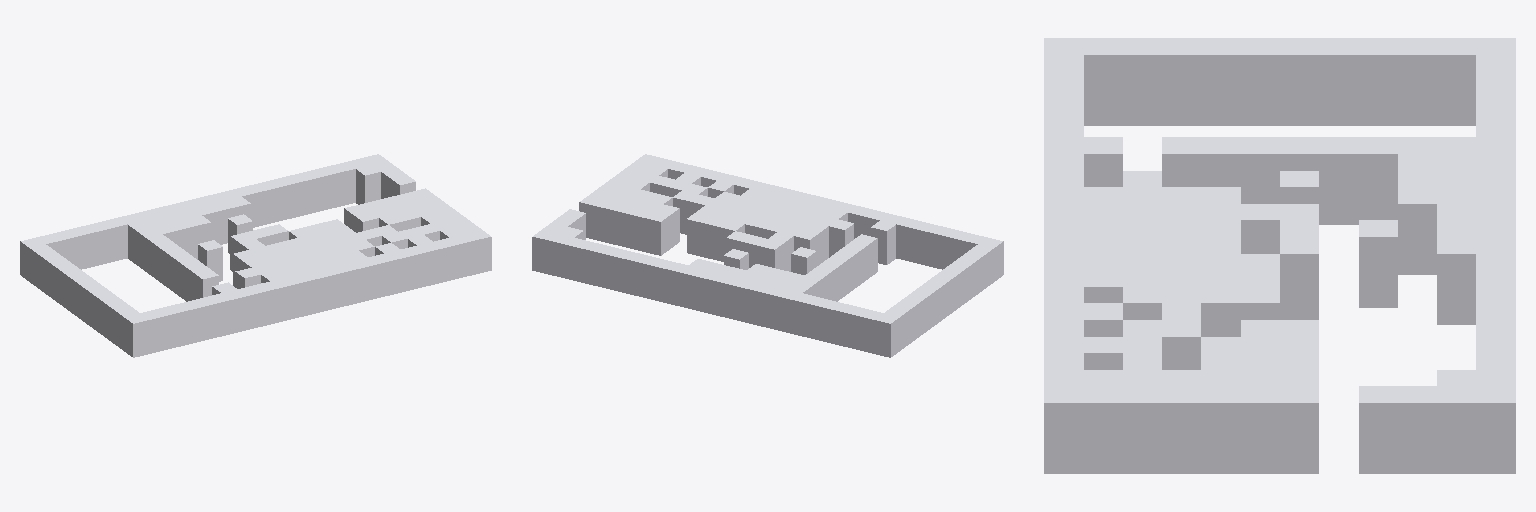
--- What the picture shows (computed from the rendered views, not written in the file) ---
3 views of the same robot in one strip: view 1: azimuth 30°, elevation 25°; view 2: azimuth 150°, elevation 25°; view 3: azimuth 270°, elevation 25° (orthographic).
Robot: maze — 141 links, 140 joints (140 fixed); root link maze_base; default pose: all joints at 0.
Visible links, largest first — view 1: block_11_0, block_1_20, block_0_16, block_11_18, block_11_21, block_11_7, block_0_5, block_0_19, block_11_4, block_11_11, block_11_14, block_11_10 (+25 smaller); view 2: block_0_0, block_5_17, block_10_6, block_0_18, block_0_21, block_0_7, block_0_4, block_0_11, block_0_14, block_5_18, block_11_5, block_0_10 (+25 smaller); view 3: block_0_21, block_4_0, block_4_6, block_7_0, block_7_21, block_11_21, block_1_0, block_1_12, block_1_21, block_2_0, block_2_9, block_2_21 (+28 smaller).
Boxes of the visible links, x1,y1,x2,y2 form: block_11_0: (124,313,149,357); block_1_20: (356,165,380,204); block_0_16: (282,174,306,218); block_11_18: (417,242,442,285); block_11_21: (466,230,491,274); block_11_7: (238,285,263,329); block_0_5: (102,218,127,261); block_0_19: (331,162,355,206); block_11_4: (189,297,214,341); block_11_11: (303,270,328,313); block_11_14: (352,258,377,301); block_11_10: (287,273,311,317); block_0_0: (874,313,899,357); block_5_17: (645,211,669,255); block_10_6: (871,221,895,264); block_0_18: (581,242,606,285); block_0_21: (532,230,557,274); block_0_7: (760,285,785,329); block_0_4: (809,297,834,341); block_0_11: (695,270,720,313); block_0_14: (646,258,671,301); block_5_18: (628,207,653,251); block_11_5: (896,218,921,261); block_0_10: (712,273,736,317); block_0_21: (1476,386,1515,473); block_4_0: (1319,38,1358,125); block_4_6: (1319,137,1358,224); block_7_0: (1201,38,1240,125); block_7_21: (1201,386,1240,473); block_11_21: (1044,386,1083,473); block_1_0: (1437,38,1475,125); block_1_12: (1437,237,1475,324); block_1_21: (1437,386,1475,473); block_2_0: (1398,38,1436,125); block_2_9: (1398,187,1436,274); block_2_21: (1398,386,1436,473).
Bounding box of the posed robot: 22 × 12 × 2 m (x, y, z).
Geometry: primitives only (box / cylinder / sphere), no mesh files.

robot.urdf — maze:
<?xml version="1.0" ?>
<robot name="maze">
  <link name="maze_base"/>

  <link name="block_0_0">
    <visual>
      <origin xyz="0 0 0"/>
      <geometry>
        <box size="1.0 1.0 2.0"/>
      </geometry>
      <material name="wall">
        <color rgba="0.95 0.95 0.98 1.0"/>
      </material>
    </visual>
    <collision>
      <origin xyz="0 0 0"/>
      <geometry>
        <box size="1.0 1.0 2.0"/>
      </geometry>
    </collision>
    <inertial>
      <mass value="0"/> <!-- static -->
      <inertia ixx="0" iyy="0" izz="0" ixy="0" ixz="0" iyz="0"/>
    </inertial>
  </link>


  <joint name="joint_block_0_0" type="fixed">
    <parent link="maze_base"/>
    <child link="block_0_0"/>
    <origin xyz="-3.5 5.5 1.0" rpy="0 0 0"/>
  </joint>


  <link name="block_0_1">
    <visual>
      <origin xyz="0 0 0"/>
      <geometry>
        <box size="1.0 1.0 2.0"/>
      </geometry>
      <material name="wall">
        <color rgba="0.95 0.95 0.98 1.0"/>
      </material>
    </visual>
    <collision>
      <origin xyz="0 0 0"/>
      <geometry>
        <box size="1.0 1.0 2.0"/>
      </geometry>
    </collision>
    <inertial>
      <mass value="0"/> <!-- static -->
      <inertia ixx="0" iyy="0" izz="0" ixy="0" ixz="0" iyz="0"/>
    </inertial>
  </link>


  <joint name="joint_block_0_1" type="fixed">
    <parent link="maze_base"/>
    <child link="block_0_1"/>
    <origin xyz="-2.5 5.5 1.0" rpy="0 0 0"/>
  </joint>


  <link name="block_0_2">
    <visual>
      <origin xyz="0 0 0"/>
      <geometry>
        <box size="1.0 1.0 2.0"/>
      </geometry>
      <material name="wall">
        <color rgba="0.95 0.95 0.98 1.0"/>
      </material>
    </visual>
    <collision>
      <origin xyz="0 0 0"/>
      <geometry>
        <box size="1.0 1.0 2.0"/>
      </geometry>
    </collision>
    <inertial>
      <mass value="0"/> <!-- static -->
      <inertia ixx="0" iyy="0" izz="0" ixy="0" ixz="0" iyz="0"/>
    </inertial>
  </link>


  <joint name="joint_block_0_2" type="fixed">
    <parent link="maze_base"/>
    <child link="block_0_2"/>
    <origin xyz="-1.5 5.5 1.0" rpy="0 0 0"/>
  </joint>


  <link name="block_0_3">
    <visual>
      <origin xyz="0 0 0"/>
      <geometry>
        <box size="1.0 1.0 2.0"/>
      </geometry>
      <material name="wall">
        <color rgba="0.95 0.95 0.98 1.0"/>
      </material>
    </visual>
    <collision>
      <origin xyz="0 0 0"/>
      <geometry>
        <box size="1.0 1.0 2.0"/>
      </geometry>
    </collision>
    <inertial>
      <mass value="0"/> <!-- static -->
      <inertia ixx="0" iyy="0" izz="0" ixy="0" ixz="0" iyz="0"/>
    </inertial>
  </link>


  <joint name="joint_block_0_3" type="fixed">
    <parent link="maze_base"/>
    <child link="block_0_3"/>
    <origin xyz="-0.5 5.5 1.0" rpy="0 0 0"/>
  </joint>


  <link name="block_0_4">
    <visual>
      <origin xyz="0 0 0"/>
      <geometry>
        <box size="1.0 1.0 2.0"/>
      </geometry>
      <material name="wall">
        <color rgba="0.95 0.95 0.98 1.0"/>
      </material>
    </visual>
    <collision>
      <origin xyz="0 0 0"/>
      <geometry>
        <box size="1.0 1.0 2.0"/>
      </geometry>
    </collision>
    <inertial>
      <mass value="0"/> <!-- static -->
      <inertia ixx="0" iyy="0" izz="0" ixy="0" ixz="0" iyz="0"/>
    </inertial>
  </link>


  <joint name="joint_block_0_4" type="fixed">
    <parent link="maze_base"/>
    <child link="block_0_4"/>
    <origin xyz="0.5 5.5 1.0" rpy="0 0 0"/>
  </joint>


  <link name="block_0_5">
    <visual>
      <origin xyz="0 0 0"/>
      <geometry>
        <box size="1.0 1.0 2.0"/>
      </geometry>
      <material name="wall">
        <color rgba="0.95 0.95 0.98 1.0"/>
      </material>
    </visual>
    <collision>
      <origin xyz="0 0 0"/>
      <geometry>
        <box size="1.0 1.0 2.0"/>
      </geometry>
    </collision>
    <inertial>
      <mass value="0"/> <!-- static -->
      <inertia ixx="0" iyy="0" izz="0" ixy="0" ixz="0" iyz="0"/>
    </inertial>
  </link>


  <joint name="joint_block_0_5" type="fixed">
    <parent link="maze_base"/>
    <child link="block_0_5"/>
    <origin xyz="1.5 5.5 1.0" rpy="0 0 0"/>
  </joint>


  <link name="block_0_6">
    <visual>
      <origin xyz="0 0 0"/>
      <geometry>
        <box size="1.0 1.0 2.0"/>
      </geometry>
      <material name="wall">
        <color rgba="0.95 0.95 0.98 1.0"/>
      </material>
    </visual>
    <collision>
      <origin xyz="0 0 0"/>
      <geometry>
        <box size="1.0 1.0 2.0"/>
      </geometry>
    </collision>
    <inertial>
      <mass value="0"/> <!-- static -->
      <inertia ixx="0" iyy="0" izz="0" ixy="0" ixz="0" iyz="0"/>
    </inertial>
  </link>


  <joint name="joint_block_0_6" type="fixed">
    <parent link="maze_base"/>
    <child link="block_0_6"/>
    <origin xyz="2.5 5.5 1.0" rpy="0 0 0"/>
  </joint>


  <link name="block_0_7">
    <visual>
      <origin xyz="0 0 0"/>
      <geometry>
        <box size="1.0 1.0 2.0"/>
      </geometry>
      <material name="wall">
        <color rgba="0.95 0.95 0.98 1.0"/>
      </material>
    </visual>
    <collision>
      <origin xyz="0 0 0"/>
      <geometry>
        <box size="1.0 1.0 2.0"/>
      </geometry>
    </collision>
    <inertial>
      <mass value="0"/> <!-- static -->
      <inertia ixx="0" iyy="0" izz="0" ixy="0" ixz="0" iyz="0"/>
    </inertial>
  </link>


  <joint name="joint_block_0_7" type="fixed">
    <parent link="maze_base"/>
    <child link="block_0_7"/>
    <origin xyz="3.5 5.5 1.0" rpy="0 0 0"/>
  </joint>


  <link name="block_0_8">
    <visual>
      <origin xyz="0 0 0"/>
      <geometry>
        <box size="1.0 1.0 2.0"/>
      </geometry>
      <material name="wall">
        <color rgba="0.95 0.95 0.98 1.0"/>
      </material>
    </visual>
    <collision>
      <origin xyz="0 0 0"/>
      <geometry>
        <box size="1.0 1.0 2.0"/>
      </geometry>
    </collision>
    <inertial>
      <mass value="0"/> <!-- static -->
      <inertia ixx="0" iyy="0" izz="0" ixy="0" ixz="0" iyz="0"/>
    </inertial>
  </link>


  <joint name="joint_block_0_8" type="fixed">
    <parent link="maze_base"/>
    <child link="block_0_8"/>
    <origin xyz="4.5 5.5 1.0" rpy="0 0 0"/>
  </joint>


  <link name="block_0_9">
    <visual>
      <origin xyz="0 0 0"/>
      <geometry>
        <box size="1.0 1.0 2.0"/>
      </geometry>
      <material name="wall">
        <color rgba="0.95 0.95 0.98 1.0"/>
      </material>
    </visual>
    <collision>
      <origin xyz="0 0 0"/>
      <geometry>
        <box size="1.0 1.0 2.0"/>
      </geometry>
    </collision>
    <inertial>
      <mass value="0"/> <!-- static -->
      <inertia ixx="0" iyy="0" izz="0" ixy="0" ixz="0" iyz="0"/>
    </inertial>
  </link>


  <joint name="joint_block_0_9" type="fixed">
    <parent link="maze_base"/>
    <child link="block_0_9"/>
    <origin xyz="5.5 5.5 1.0" rpy="0 0 0"/>
  </joint>


  <link name="block_0_10">
    <visual>
      <origin xyz="0 0 0"/>
      <geometry>
        <box size="1.0 1.0 2.0"/>
      </geometry>
      <material name="wall">
        <color rgba="0.95 0.95 0.98 1.0"/>
      </material>
    </visual>
    <collision>
      <origin xyz="0 0 0"/>
      <geometry>
        <box size="1.0 1.0 2.0"/>
      </geometry>
    </collision>
    <inertial>
      <mass value="0"/> <!-- static -->
      <inertia ixx="0" iyy="0" izz="0" ixy="0" ixz="0" iyz="0"/>
    </inertial>
  </link>


  <joint name="joint_block_0_10" type="fixed">
    <parent link="maze_base"/>
    <child link="block_0_10"/>
    <origin xyz="6.5 5.5 1.0" rpy="0 0 0"/>
  </joint>


  <link name="block_0_11">
    <visual>
      <origin xyz="0 0 0"/>
      <geometry>
        <box size="1.0 1.0 2.0"/>
      </geometry>
      <material name="wall">
        <color rgba="0.95 0.95 0.98 1.0"/>
      </material>
    </visual>
    <collision>
      <origin xyz="0 0 0"/>
      <geometry>
        <box size="1.0 1.0 2.0"/>
      </geometry>
    </collision>
    <inertial>
      <mass value="0"/> <!-- static -->
      <inertia ixx="0" iyy="0" izz="0" ixy="0" ixz="0" iyz="0"/>
    </inertial>
  </link>


  <joint name="joint_block_0_11" type="fixed">
    <parent link="maze_base"/>
    <child link="block_0_11"/>
    <origin xyz="7.5 5.5 1.0" rpy="0 0 0"/>
  </joint>


  <link name="block_0_12">
    <visual>
      <origin xyz="0 0 0"/>
      <geometry>
        <box size="1.0 1.0 2.0"/>
      </geometry>
      <material name="wall">
        <color rgba="0.95 0.95 0.98 1.0"/>
      </material>
    </visual>
    <collision>
      <origin xyz="0 0 0"/>
      <geometry>
        <box size="1.0 1.0 2.0"/>
      </geometry>
    </collision>
    <inertial>
      <mass value="0"/> <!-- static -->
      <inertia ixx="0" iyy="0" izz="0" ixy="0" ixz="0" iyz="0"/>
    </inertial>
  </link>


  <joint name="joint_block_0_12" type="fixed">
    <parent link="maze_base"/>
    <child link="block_0_12"/>
    <origin xyz="8.5 5.5 1.0" rpy="0 0 0"/>
  </joint>


  <link name="block_0_13">
    <visual>
      <origin xyz="0 0 0"/>
      <geometry>
        <box size="1.0 1.0 2.0"/>
      </geometry>
      <material name="wall">
        <color rgba="0.95 0.95 0.98 1.0"/>
      </material>
    </visual>
    <collision>
      <origin xyz="0 0 0"/>
      <geometry>
        <box size="1.0 1.0 2.0"/>
      </geometry>
    </collision>
    <inertial>
      <mass value="0"/> <!-- static -->
      <inertia ixx="0" iyy="0" izz="0" ixy="0" ixz="0" iyz="0"/>
    </inertial>
  </link>


  <joint name="joint_block_0_13" type="fixed">
    <parent link="maze_base"/>
    <child link="block_0_13"/>
    <origin xyz="9.5 5.5 1.0" rpy="0 0 0"/>
  </joint>


  <link name="block_0_14">
    <visual>
      <origin xyz="0 0 0"/>
      <geometry>
        <box size="1.0 1.0 2.0"/>
      </geometry>
      <material name="wall">
        <color rgba="0.95 0.95 0.98 1.0"/>
      </material>
    </visual>
    <collision>
      <origin xyz="0 0 0"/>
      <geometry>
        <box size="1.0 1.0 2.0"/>
      </geometry>
    </collision>
    <inertial>
      <mass value="0"/> <!-- static -->
      <inertia ixx="0" iyy="0" izz="0" ixy="0" ixz="0" iyz="0"/>
    </inertial>
  </link>


  <joint name="joint_block_0_14" type="fixed">
    <parent link="maze_base"/>
    <child link="block_0_14"/>
    <origin xyz="10.5 5.5 1.0" rpy="0 0 0"/>
  </joint>


  <link name="block_0_15">
    <visual>
      <origin xyz="0 0 0"/>
      <geometry>
        <box size="1.0 1.0 2.0"/>
      </geometry>
      <material name="wall">
        <color rgba="0.95 0.95 0.98 1.0"/>
      </material>
    </visual>
    <collision>
      <origin xyz="0 0 0"/>
      <geometry>
        <box size="1.0 1.0 2.0"/>
      </geometry>
    </collision>
    <inertial>
      <mass value="0"/> <!-- static -->
      <inertia ixx="0" iyy="0" izz="0" ixy="0" ixz="0" iyz="0"/>
    </inertial>
  </link>


  <joint name="joint_block_0_15" type="fixed">
    <parent link="maze_base"/>
    <child link="block_0_15"/>
    <origin xyz="11.5 5.5 1.0" rpy="0 0 0"/>
  </joint>


  <link name="block_0_16">
    <visual>
      <origin xyz="0 0 0"/>
      <geometry>
        <box size="1.0 1.0 2.0"/>
      </geometry>
      <material name="wall">
        <color rgba="0.95 0.95 0.98 1.0"/>
      </material>
    </visual>
    <collision>
      <origin xyz="0 0 0"/>
      <geometry>
        <box size="1.0 1.0 2.0"/>
      </geometry>
    </collision>
    <inertial>
      <mass value="0"/> <!-- static -->
      <inertia ixx="0" iyy="0" izz="0" ixy="0" ixz="0" iyz="0"/>
    </inertial>
  </link>


  <joint name="joint_block_0_16" type="fixed">
    <parent link="maze_base"/>
    <child link="block_0_16"/>
    <origin xyz="12.5 5.5 1.0" rpy="0 0 0"/>
  </joint>


  <link name="block_0_17">
    <visual>
      <origin xyz="0 0 0"/>
      <geometry>
        <box size="1.0 1.0 2.0"/>
      </geometry>
      <material name="wall">
        <color rgba="0.95 0.95 0.98 1.0"/>
      </material>
    </visual>
    <collision>
      <origin xyz="0 0 0"/>
      <geometry>
        <box size="1.0 1.0 2.0"/>
      </geometry>
    </collision>
    <inertial>
      <mass value="0"/> <!-- static -->
      <inertia ixx="0" iyy="0" izz="0" ixy="0" ixz="0" iyz="0"/>
    </inertial>
  </link>


  <joint name="joint_block_0_17" type="fixed">
    <parent link="maze_base"/>
    <child link="block_0_17"/>
    <origin xyz="13.5 5.5 1.0" rpy="0 0 0"/>
  </joint>


  <link name="block_0_18">
    <visual>
      <origin xyz="0 0 0"/>
      <geometry>
        <box size="1.0 1.0 2.0"/>
      </geometry>
      <material name="wall">
        <color rgba="0.95 0.95 0.98 1.0"/>
      </material>
    </visual>
    <collision>
      <origin xyz="0 0 0"/>
      <geometry>
        <box size="1.0 1.0 2.0"/>
      </geometry>
    </collision>
    <inertial>
      <mass value="0"/> <!-- static -->
      <inertia ixx="0" iyy="0" izz="0" ixy="0" ixz="0" iyz="0"/>
    </inertial>
  </link>


  <joint name="joint_block_0_18" type="fixed">
    <parent link="maze_base"/>
    <child link="block_0_18"/>
    <origin xyz="14.5 5.5 1.0" rpy="0 0 0"/>
  </joint>


  <link name="block_0_19">
    <visual>
      <origin xyz="0 0 0"/>
      <geometry>
        <box size="1.0 1.0 2.0"/>
      </geometry>
      <material name="wall">
        <color rgba="0.95 0.95 0.98 1.0"/>
      </material>
    </visual>
    <collision>
      <origin xyz="0 0 0"/>
      <geometry>
        <box size="1.0 1.0 2.0"/>
      </geometry>
    </collision>
    <inertial>
      <mass value="0"/> <!-- static -->
      <inertia ixx="0" iyy="0" izz="0" ixy="0" ixz="0" iyz="0"/>
    </inertial>
  </link>


  <joint name="joint_block_0_19" type="fixed">
    <parent link="maze_base"/>
    <child link="block_0_19"/>
    <origin xyz="15.5 5.5 1.0" rpy="0 0 0"/>
  </joint>


  <link name="block_0_20">
    <visual>
      <origin xyz="0 0 0"/>
      <geometry>
        <box size="1.0 1.0 2.0"/>
      </geometry>
      <material name="wall">
        <color rgba="0.95 0.95 0.98 1.0"/>
      </material>
    </visual>
    <collision>
      <origin xyz="0 0 0"/>
      <geometry>
        <box size="1.0 1.0 2.0"/>
      </geometry>
    </collision>
    <inertial>
      <mass value="0"/> <!-- static -->
      <inertia ixx="0" iyy="0" izz="0" ixy="0" ixz="0" iyz="0"/>
    </inertial>
  </link>


  <joint name="joint_block_0_20" type="fixed">
    <parent link="maze_base"/>
    <child link="block_0_20"/>
    <origin xyz="16.5 5.5 1.0" rpy="0 0 0"/>
  </joint>


  <link name="block_0_21">
    <visual>
      <origin xyz="0 0 0"/>
      <geometry>
        <box size="1.0 1.0 2.0"/>
      </geometry>
      <material name="wall">
        <color rgba="0.95 0.95 0.98 1.0"/>
      </material>
    </visual>
    <collision>
      <origin xyz="0 0 0"/>
      <geometry>
        <box size="1.0 1.0 2.0"/>
      </geometry>
    </collision>
    <inertial>
      <mass value="0"/> <!-- static -->
      <inertia ixx="0" iyy="0" izz="0" ixy="0" ixz="0" iyz="0"/>
    </inertial>
  </link>


  <joint name="joint_block_0_21" type="fixed">
    <parent link="maze_base"/>
    <child link="block_0_21"/>
    <origin xyz="17.5 5.5 1.0" rpy="0 0 0"/>
  </joint>


  <link name="block_1_0">
    <visual>
      <origin xyz="0 0 0"/>
      <geometry>
        <box size="1.0 1.0 2.0"/>
      </geometry>
      <material name="wall">
        <color rgba="0.95 0.95 0.98 1.0"/>
      </material>
    </visual>
    <collision>
      <origin xyz="0 0 0"/>
      <geometry>
        <box size="1.0 1.0 2.0"/>
      </geometry>
    </collision>
    <inertial>
      <mass value="0"/> <!-- static -->
      <inertia ixx="0" iyy="0" izz="0" ixy="0" ixz="0" iyz="0"/>
    </inertial>
  </link>


  <joint name="joint_block_1_0" type="fixed">
    <parent link="maze_base"/>
    <child link="block_1_0"/>
    <origin xyz="-3.5 4.5 1.0" rpy="0 0 0"/>
  </joint>


  <link name="block_1_6">
    <visual>
      <origin xyz="0 0 0"/>
      <geometry>
        <box size="1.0 1.0 2.0"/>
      </geometry>
      <material name="wall">
        <color rgba="0.95 0.95 0.98 1.0"/>
      </material>
    </visual>
    <collision>
      <origin xyz="0 0 0"/>
      <geometry>
        <box size="1.0 1.0 2.0"/>
      </geometry>
    </collision>
    <inertial>
      <mass value="0"/> <!-- static -->
      <inertia ixx="0" iyy="0" izz="0" ixy="0" ixz="0" iyz="0"/>
    </inertial>
  </link>


  <joint name="joint_block_1_6" type="fixed">
    <parent link="maze_base"/>
    <child link="block_1_6"/>
    <origin xyz="2.5 4.5 1.0" rpy="0 0 0"/>
  </joint>


  <link name="block_1_7">
    <visual>
      <origin xyz="0 0 0"/>
      <geometry>
        <box size="1.0 1.0 2.0"/>
      </geometry>
      <material name="wall">
        <color rgba="0.95 0.95 0.98 1.0"/>
      </material>
    </visual>
    <collision>
      <origin xyz="0 0 0"/>
      <geometry>
        <box size="1.0 1.0 2.0"/>
      </geometry>
    </collision>
    <inertial>
      <mass value="0"/> <!-- static -->
      <inertia ixx="0" iyy="0" izz="0" ixy="0" ixz="0" iyz="0"/>
    </inertial>
  </link>


  <joint name="joint_block_1_7" type="fixed">
    <parent link="maze_base"/>
    <child link="block_1_7"/>
    <origin xyz="3.5 4.5 1.0" rpy="0 0 0"/>
  </joint>


  <link name="block_1_8">
    <visual>
      <origin xyz="0 0 0"/>
      <geometry>
        <box size="1.0 1.0 2.0"/>
      </geometry>
      <material name="wall">
        <color rgba="0.95 0.95 0.98 1.0"/>
      </material>
    </visual>
    <collision>
      <origin xyz="0 0 0"/>
      <geometry>
        <box size="1.0 1.0 2.0"/>
      </geometry>
    </collision>
    <inertial>
      <mass value="0"/> <!-- static -->
      <inertia ixx="0" iyy="0" izz="0" ixy="0" ixz="0" iyz="0"/>
    </inertial>
  </link>


  <joint name="joint_block_1_8" type="fixed">
    <parent link="maze_base"/>
    <child link="block_1_8"/>
    <origin xyz="4.5 4.5 1.0" rpy="0 0 0"/>
  </joint>


  <link name="block_1_9">
    <visual>
      <origin xyz="0 0 0"/>
      <geometry>
        <box size="1.0 1.0 2.0"/>
      </geometry>
      <material name="wall">
        <color rgba="0.95 0.95 0.98 1.0"/>
      </material>
    </visual>
    <collision>
      <origin xyz="0 0 0"/>
      <geometry>
        <box size="1.0 1.0 2.0"/>
      </geometry>
    </collision>
    <inertial>
      <mass value="0"/> <!-- static -->
      <inertia ixx="0" iyy="0" izz="0" ixy="0" ixz="0" iyz="0"/>
    </inertial>
  </link>


  <joint name="joint_block_1_9" type="fixed">
    <parent link="maze_base"/>
    <child link="block_1_9"/>
    <origin xyz="5.5 4.5 1.0" rpy="0 0 0"/>
  </joint>


  <link name="block_1_10">
    <visual>
      <origin xyz="0 0 0"/>
      <geometry>
        <box size="1.0 1.0 2.0"/>
      </geometry>
      <material name="wall">
        <color rgba="0.95 0.95 0.98 1.0"/>
      </material>
    </visual>
    <collision>
      <origin xyz="0 0 0"/>
      <geometry>
        <box size="1.0 1.0 2.0"/>
      </geometry>
    </collision>
    <inertial>
      <mass value="0"/> <!-- static -->
      <inertia ixx="0" iyy="0" izz="0" ixy="0" ixz="0" iyz="0"/>
    </inertial>
  </link>


  <joint name="joint_block_1_10" type="fixed">
    <parent link="maze_base"/>
    <child link="block_1_10"/>
    <origin xyz="6.5 4.5 1.0" rpy="0 0 0"/>
  </joint>


  <link name="block_1_11">
    <visual>
      <origin xyz="0 0 0"/>
      <geometry>
        <box size="1.0 1.0 2.0"/>
      </geometry>
      <material name="wall">
        <color rgba="0.95 0.95 0.98 1.0"/>
      </material>
    </visual>
    <collision>
      <origin xyz="0 0 0"/>
      <geometry>
        <box size="1.0 1.0 2.0"/>
      </geometry>
    </collision>
    <inertial>
      <mass value="0"/> <!-- static -->
      <inertia ixx="0" iyy="0" izz="0" ixy="0" ixz="0" iyz="0"/>
    </inertial>
  </link>


  <joint name="joint_block_1_11" type="fixed">
    <parent link="maze_base"/>
    <child link="block_1_11"/>
    <origin xyz="7.5 4.5 1.0" rpy="0 0 0"/>
  </joint>


  <link name="block_1_12">
    <visual>
      <origin xyz="0 0 0"/>
      <geometry>
        <box size="1.0 1.0 2.0"/>
      </geometry>
      <material name="wall">
        <color rgba="0.95 0.95 0.98 1.0"/>
      </material>
    </visual>
    <collision>
      <origin xyz="0 0 0"/>
      <geometry>
        <box size="1.0 1.0 2.0"/>
      </geometry>
    </collision>
    <inertial>
      <mass value="0"/> <!-- static -->
      <inertia ixx="0" iyy="0" izz="0" ixy="0" ixz="0" iyz="0"/>
    </inertial>
  </link>


  <joint name="joint_block_1_12" type="fixed">
    <parent link="maze_base"/>
    <child link="block_1_12"/>
    <origin xyz="8.5 4.5 1.0" rpy="0 0 0"/>
  </joint>


  <link name="block_1_20">
    <visual>
      <origin xyz="0 0 0"/>
      <geometry>
        <box size="1.0 1.0 2.0"/>
      </geometry>
      <material name="wall">
        <color rgba="0.95 0.95 0.98 1.0"/>
      </material>
    </visual>
    <collision>
      <origin xyz="0 0 0"/>
      <geometry>
        <box size="1.0 1.0 2.0"/>
      </geometry>
    </collision>
    <inertial>
      <mass value="0"/> <!-- static -->
      <inertia ixx="0" iyy="0" izz="0" ixy="0" ixz="0" iyz="0"/>
    </inertial>
  </link>


  <joint name="joint_block_1_20" type="fixed">
    <parent link="maze_base"/>
    <child link="block_1_20"/>
    <origin xyz="16.5 4.5 1.0" rpy="0 0 0"/>
  </joint>


  <link name="block_1_21">
    <visual>
      <origin xyz="0 0 0"/>
      <geometry>
        <box size="1.0 1.0 2.0"/>
      </geometry>
      <material name="wall">
        <color rgba="0.95 0.95 0.98 1.0"/>
      </material>
    </visual>
    <collision>
      <origin xyz="0 0 0"/>
      <geometry>
        <box size="1.0 1.0 2.0"/>
      </geometry>
    </collision>
    <inertial>
      <mass value="0"/> <!-- static -->
      <inertia ixx="0" iyy="0" izz="0" ixy="0" ixz="0" iyz="0"/>
    </inertial>
  </link>


  <joint name="joint_block_1_21" type="fixed">
    <parent link="maze_base"/>
    <child link="block_1_21"/>
    <origin xyz="17.5 4.5 1.0" rpy="0 0 0"/>
  </joint>


  <link name="block_2_0">
    <visual>
      <origin xyz="0 0 0"/>
      <geometry>
        <box size="1.0 1.0 2.0"/>
      </geometry>
      <material name="wall">
        <color rgba="0.95 0.95 0.98 1.0"/>
      </material>
    </visual>
    <collision>
      <origin xyz="0 0 0"/>
      <geometry>
        <box size="1.0 1.0 2.0"/>
      </geometry>
    </collision>
    <inertial>
      <mass value="0"/> <!-- static -->
      <inertia ixx="0" iyy="0" izz="0" ixy="0" ixz="0" iyz="0"/>
    </inertial>
  </link>


  <joint name="joint_block_2_0" type="fixed">
    <parent link="maze_base"/>
    <child link="block_2_0"/>
    <origin xyz="-3.5 3.5 1.0" rpy="0 0 0"/>
  </joint>


  <link name="block_2_6">
    <visual>
      <origin xyz="0 0 0"/>
      <geometry>
        <box size="1.0 1.0 2.0"/>
      </geometry>
      <material name="wall">
        <color rgba="0.95 0.95 0.98 1.0"/>
      </material>
    </visual>
    <collision>
      <origin xyz="0 0 0"/>
      <geometry>
        <box size="1.0 1.0 2.0"/>
      </geometry>
    </collision>
    <inertial>
      <mass value="0"/> <!-- static -->
      <inertia ixx="0" iyy="0" izz="0" ixy="0" ixz="0" iyz="0"/>
    </inertial>
  </link>


  <joint name="joint_block_2_6" type="fixed">
    <parent link="maze_base"/>
    <child link="block_2_6"/>
    <origin xyz="2.5 3.5 1.0" rpy="0 0 0"/>
  </joint>


  <link name="block_2_7">
    <visual>
      <origin xyz="0 0 0"/>
      <geometry>
        <box size="1.0 1.0 2.0"/>
      </geometry>
      <material name="wall">
        <color rgba="0.95 0.95 0.98 1.0"/>
      </material>
    </visual>
    <collision>
      <origin xyz="0 0 0"/>
      <geometry>
        <box size="1.0 1.0 2.0"/>
      </geometry>
    </collision>
    <inertial>
      <mass value="0"/> <!-- static -->
      <inertia ixx="0" iyy="0" izz="0" ixy="0" ixz="0" iyz="0"/>
    </inertial>
  </link>


  <joint name="joint_block_2_7" type="fixed">
    <parent link="maze_base"/>
    <child link="block_2_7"/>
    <origin xyz="3.5 3.5 1.0" rpy="0 0 0"/>
  </joint>


  <link name="block_2_8">
    <visual>
      <origin xyz="0 0 0"/>
      <geometry>
        <box size="1.0 1.0 2.0"/>
      </geometry>
      <material name="wall">
        <color rgba="0.95 0.95 0.98 1.0"/>
      </material>
    </visual>
    <collision>
      <origin xyz="0 0 0"/>
      <geometry>
        <box size="1.0 1.0 2.0"/>
      </geometry>
    </collision>
    <inertial>
      <mass value="0"/> <!-- static -->
      <inertia ixx="0" iyy="0" izz="0" ixy="0" ixz="0" iyz="0"/>
    </inertial>
  </link>


  <joint name="joint_block_2_8" type="fixed">
    <parent link="maze_base"/>
    <child link="block_2_8"/>
    <origin xyz="4.5 3.5 1.0" rpy="0 0 0"/>
  </joint>


  <link name="block_2_9">
    <visual>
      <origin xyz="0 0 0"/>
      <geometry>
        <box size="1.0 1.0 2.0"/>
      </geometry>
      <material name="wall">
        <color rgba="0.95 0.95 0.98 1.0"/>
      </material>
    </visual>
    <collision>
      <origin xyz="0 0 0"/>
      <geometry>
        <box size="1.0 1.0 2.0"/>
      </geometry>
    </collision>
    <inertial>
      <mass value="0"/> <!-- static -->
      <inertia ixx="0" iyy="0" izz="0" ixy="0" ixz="0" iyz="0"/>
    </inertial>
  </link>


  <joint name="joint_block_2_9" type="fixed">
    <parent link="maze_base"/>
    <child link="block_2_9"/>
    <origin xyz="5.5 3.5 1.0" rpy="0 0 0"/>
  </joint>


  <link name="block_2_21">
    <visual>
      <origin xyz="0 0 0"/>
      <geometry>
        <box size="1.0 1.0 2.0"/>
      </geometry>
      <material name="wall">
        <color rgba="0.95 0.95 0.98 1.0"/>
      </material>
    </visual>
    <collision>
      <origin xyz="0 0 0"/>
      <geometry>
        <box size="1.0 1.0 2.0"/>
      </geometry>
    </collision>
    <inertial>
      <mass value="0"/> <!-- static -->
      <inertia ixx="0" iyy="0" izz="0" ixy="0" ixz="0" iyz="0"/>
    </inertial>
  </link>


  <joint name="joint_block_2_21" type="fixed">
    <parent link="maze_base"/>
    <child link="block_2_21"/>
    <origin xyz="17.5 3.5 1.0" rpy="0 0 0"/>
  </joint>


  <link name="block_3_0">
    <visual>
      <origin xyz="0 0 0"/>
      <geometry>
        <box size="1.0 1.0 2.0"/>
      </geometry>
      <material name="wall">
        <color rgba="0.95 0.95 0.98 1.0"/>
      </material>
    </visual>
    <collision>
      <origin xyz="0 0 0"/>
      <geometry>
        <box size="1.0 1.0 2.0"/>
      </geometry>
    </collision>
    <inertial>
      <mass value="0"/> <!-- static -->
      <inertia ixx="0" iyy="0" izz="0" ixy="0" ixz="0" iyz="0"/>
    </inertial>
  </link>


  <joint name="joint_block_3_0" type="fixed">
    <parent link="maze_base"/>
    <child link="block_3_0"/>
    <origin xyz="-3.5 2.5 1.0" rpy="0 0 0"/>
  </joint>


  <link name="block_3_6">
    <visual>
      <origin xyz="0 0 0"/>
      <geometry>
        <box size="1.0 1.0 2.0"/>
      </geometry>
      <material name="wall">
        <color rgba="0.95 0.95 0.98 1.0"/>
      </material>
    </visual>
    <collision>
      <origin xyz="0 0 0"/>
      <geometry>
        <box size="1.0 1.0 2.0"/>
      </geometry>
    </collision>
    <inertial>
      <mass value="0"/> <!-- static -->
      <inertia ixx="0" iyy="0" izz="0" ixy="0" ixz="0" iyz="0"/>
    </inertial>
  </link>


  <joint name="joint_block_3_6" type="fixed">
    <parent link="maze_base"/>
    <child link="block_3_6"/>
    <origin xyz="2.5 2.5 1.0" rpy="0 0 0"/>
  </joint>


  <link name="block_3_11">
    <visual>
      <origin xyz="0 0 0"/>
      <geometry>
        <box size="1.0 1.0 2.0"/>
      </geometry>
      <material name="wall">
        <color rgba="0.95 0.95 0.98 1.0"/>
      </material>
    </visual>
    <collision>
      <origin xyz="0 0 0"/>
      <geometry>
        <box size="1.0 1.0 2.0"/>
      </geometry>
    </collision>
    <inertial>
      <mass value="0"/> <!-- static -->
      <inertia ixx="0" iyy="0" izz="0" ixy="0" ixz="0" iyz="0"/>
    </inertial>
  </link>


  <joint name="joint_block_3_11" type="fixed">
    <parent link="maze_base"/>
    <child link="block_3_11"/>
    <origin xyz="7.5 2.5 1.0" rpy="0 0 0"/>
  </joint>


  <link name="block_3_21">
    <visual>
      <origin xyz="0 0 0"/>
      <geometry>
        <box size="1.0 1.0 2.0"/>
      </geometry>
      <material name="wall">
        <color rgba="0.95 0.95 0.98 1.0"/>
      </material>
    </visual>
    <collision>
      <origin xyz="0 0 0"/>
      <geometry>
        <box size="1.0 1.0 2.0"/>
      </geometry>
    </collision>
    <inertial>
      <mass value="0"/> <!-- static -->
      <inertia ixx="0" iyy="0" izz="0" ixy="0" ixz="0" iyz="0"/>
    </inertial>
  </link>


  <joint name="joint_block_3_21" type="fixed">
    <parent link="maze_base"/>
    <child link="block_3_21"/>
    <origin xyz="17.5 2.5 1.0" rpy="0 0 0"/>
  </joint>


  <link name="block_4_0">
    <visual>
      <origin xyz="0 0 0"/>
      <geometry>
        <box size="1.0 1.0 2.0"/>
      </geometry>
      <material name="wall">
        <color rgba="0.95 0.95 0.98 1.0"/>
      </material>
    </visual>
    <collision>
      <origin xyz="0 0 0"/>
      <geometry>
        <box size="1.0 1.0 2.0"/>
      </geometry>
    </collision>
    <inertial>
      <mass value="0"/> <!-- static -->
      <inertia ixx="0" iyy="0" izz="0" ixy="0" ixz="0" iyz="0"/>
    </inertial>
  </link>


  <joint name="joint_block_4_0" type="fixed">
    <parent link="maze_base"/>
    <child link="block_4_0"/>
    <origin xyz="-3.5 1.5 1.0" rpy="0 0 0"/>
  </joint>


  <link name="block_4_6">
    <visual>
      <origin xyz="0 0 0"/>
      <geometry>
        <box size="1.0 1.0 2.0"/>
      </geometry>
      <material name="wall">
        <color rgba="0.95 0.95 0.98 1.0"/>
      </material>
    </visual>
    <collision>
      <origin xyz="0 0 0"/>
      <geometry>
        <box size="1.0 1.0 2.0"/>
      </geometry>
    </collision>
    <inertial>
      <mass value="0"/> <!-- static -->
      <inertia ixx="0" iyy="0" izz="0" ixy="0" ixz="0" iyz="0"/>
    </inertial>
  </link>


  <joint name="joint_block_4_6" type="fixed">
    <parent link="maze_base"/>
    <child link="block_4_6"/>
    <origin xyz="2.5 1.5 1.0" rpy="0 0 0"/>
  </joint>


  <link name="block_5_0">
    <visual>
      <origin xyz="0 0 0"/>
      <geometry>
        <box size="1.0 1.0 2.0"/>
      </geometry>
      <material name="wall">
        <color rgba="0.95 0.95 0.98 1.0"/>
      </material>
    </visual>
    <collision>
      <origin xyz="0 0 0"/>
      <geometry>
        <box size="1.0 1.0 2.0"/>
      </geometry>
    </collision>
    <inertial>
      <mass value="0"/> <!-- static -->
      <inertia ixx="0" iyy="0" izz="0" ixy="0" ixz="0" iyz="0"/>
    </inertial>
  </link>


  <joint name="joint_block_5_0" type="fixed">
    <parent link="maze_base"/>
    <child link="block_5_0"/>
    <origin xyz="-3.5 0.5 1.0" rpy="0 0 0"/>
  </joint>


  <link name="block_5_6">
    <visual>
      <origin xyz="0 0 0"/>
      <geometry>
        <box size="1.0 1.0 2.0"/>
      </geometry>
      <material name="wall">
        <color rgba="0.95 0.95 0.98 1.0"/>
      </material>
    </visual>
    <collision>
      <origin xyz="0 0 0"/>
      <geometry>
        <box size="1.0 1.0 2.0"/>
      </geometry>
    </collision>
    <inertial>
      <mass value="0"/> <!-- static -->
      <inertia ixx="0" iyy="0" izz="0" ixy="0" ixz="0" iyz="0"/>
    </inertial>
  </link>


  <joint name="joint_block_5_6" type="fixed">
    <parent link="maze_base"/>
    <child link="block_5_6"/>
    <origin xyz="2.5 0.5 1.0" rpy="0 0 0"/>
  </joint>


  <link name="block_5_8">
    <visual>
      <origin xyz="0 0 0"/>
      <geometry>
        <box size="1.0 1.0 2.0"/>
      </geometry>
      <material name="wall">
        <color rgba="0.95 0.95 0.98 1.0"/>
      </material>
    </visual>
    <collision>
      <origin xyz="0 0 0"/>
      <geometry>
        <box size="1.0 1.0 2.0"/>
      </geometry>
    </collision>
    <inertial>
      <mass value="0"/> <!-- static -->
      <inertia ixx="0" iyy="0" izz="0" ixy="0" ixz="0" iyz="0"/>
    </inertial>
  </link>


  <joint name="joint_block_5_8" type="fixed">
    <parent link="maze_base"/>
    <child link="block_5_8"/>
    <origin xyz="4.5 0.5 1.0" rpy="0 0 0"/>
  </joint>


  <link name="block_5_10">
    <visual>
      <origin xyz="0 0 0"/>
      <geometry>
        <box size="1.0 1.0 2.0"/>
      </geometry>
      <material name="wall">
        <color rgba="0.95 0.95 0.98 1.0"/>
      </material>
    </visual>
    <collision>
      <origin xyz="0 0 0"/>
      <geometry>
        <box size="1.0 1.0 2.0"/>
      </geometry>
    </collision>
    <inertial>
      <mass value="0"/> <!-- static -->
      <inertia ixx="0" iyy="0" izz="0" ixy="0" ixz="0" iyz="0"/>
    </inertial>
  </link>


  <joint name="joint_block_5_10" type="fixed">
    <parent link="maze_base"/>
    <child link="block_5_10"/>
    <origin xyz="6.5 0.5 1.0" rpy="0 0 0"/>
  </joint>


  <link name="block_5_11">
    <visual>
      <origin xyz="0 0 0"/>
      <geometry>
        <box size="1.0 1.0 2.0"/>
      </geometry>
      <material name="wall">
        <color rgba="0.95 0.95 0.98 1.0"/>
      </material>
    </visual>
    <collision>
      <origin xyz="0 0 0"/>
      <geometry>
        <box size="1.0 1.0 2.0"/>
      </geometry>
    </collision>
    <inertial>
      <mass value="0"/> <!-- static -->
      <inertia ixx="0" iyy="0" izz="0" ixy="0" ixz="0" iyz="0"/>
    </inertial>
  </link>


  <joint name="joint_block_5_11" type="fixed">
    <parent link="maze_base"/>
    <child link="block_5_11"/>
    <origin xyz="7.5 0.5 1.0" rpy="0 0 0"/>
  </joint>


  <link name="block_5_12">
    <visual>
      <origin xyz="0 0 0"/>
      <geometry>
        <box size="1.0 1.0 2.0"/>
      </geometry>
      <material name="wall">
        <color rgba="0.95 0.95 0.98 1.0"/>
      </material>
    </visual>
    <collision>
      <origin xyz="0 0 0"/>
      <geometry>
        <box size="1.0 1.0 2.0"/>
      </geometry>
    </collision>
    <inertial>
      <mass value="0"/> <!-- static -->
      <inertia ixx="0" iyy="0" izz="0" ixy="0" ixz="0" iyz="0"/>
    </inertial>
  </link>


  <joint name="joint_block_5_12" type="fixed">
    <parent link="maze_base"/>
    <child link="block_5_12"/>
    <origin xyz="8.5 0.5 1.0" rpy="0 0 0"/>
  </joint>


  <link name="block_5_17">
    <visual>
      <origin xyz="0 0 0"/>
      <geometry>
        <box size="1.0 1.0 2.0"/>
      </geometry>
      <material name="wall">
        <color rgba="0.95 0.95 0.98 1.0"/>
      </material>
    </visual>
    <collision>
      <origin xyz="0 0 0"/>
      <geometry>
        <box size="1.0 1.0 2.0"/>
      </geometry>
    </collision>
    <inertial>
      <mass value="0"/> <!-- static -->
      <inertia ixx="0" iyy="0" izz="0" ixy="0" ixz="0" iyz="0"/>
    </inertial>
  </link>


  <joint name="joint_block_5_17" type="fixed">
    <parent link="maze_base"/>
    <child link="block_5_17"/>
    <origin xyz="13.5 0.5 1.0" rpy="0 0 0"/>
  </joint>


  <link name="block_5_18">
    <visual>
      <origin xyz="0 0 0"/>
      <geometry>
        <box size="1.0 1.0 2.0"/>
      </geometry>
      <material name="wall">
        <color rgba="0.95 0.95 0.98 1.0"/>
      </material>
    </visual>
    <collision>
      <origin xyz="0 0 0"/>
      <geometry>
        <box size="1.0 1.0 2.0"/>
      </geometry>
    </collision>
    <inertial>
      <mass value="0"/> <!-- static -->
      <inertia ixx="0" iyy="0" izz="0" ixy="0" ixz="0" iyz="0"/>
    </inertial>
  </link>


  <joint name="joint_block_5_18" type="fixed">
    <parent link="maze_base"/>
    <child link="block_5_18"/>
    <origin xyz="14.5 0.5 1.0" rpy="0 0 0"/>
  </joint>


  <link name="block_5_19">
    <visual>
      <origin xyz="0 0 0"/>
      <geometry>
        <box size="1.0 1.0 2.0"/>
      </geometry>
      <material name="wall">
        <color rgba="0.95 0.95 0.98 1.0"/>
      </material>
    </visual>
    <collision>
      <origin xyz="0 0 0"/>
      <geometry>
        <box size="1.0 1.0 2.0"/>
      </geometry>
    </collision>
    <inertial>
      <mass value="0"/> <!-- static -->
      <inertia ixx="0" iyy="0" izz="0" ixy="0" ixz="0" iyz="0"/>
    </inertial>
  </link>


  <joint name="joint_block_5_19" type="fixed">
    <parent link="maze_base"/>
    <child link="block_5_19"/>
    <origin xyz="15.5 0.5 1.0" rpy="0 0 0"/>
  </joint>


  <link name="block_5_20">
    <visual>
      <origin xyz="0 0 0"/>
      <geometry>
        <box size="1.0 1.0 2.0"/>
      </geometry>
      <material name="wall">
        <color rgba="0.95 0.95 0.98 1.0"/>
      </material>
    </visual>
    <collision>
      <origin xyz="0 0 0"/>
      <geometry>
        <box size="1.0 1.0 2.0"/>
      </geometry>
    </collision>
    <inertial>
      <mass value="0"/> <!-- static -->
      <inertia ixx="0" iyy="0" izz="0" ixy="0" ixz="0" iyz="0"/>
    </inertial>
  </link>


  <joint name="joint_block_5_20" type="fixed">
    <parent link="maze_base"/>
    <child link="block_5_20"/>
    <origin xyz="16.5 0.5 1.0" rpy="0 0 0"/>
  </joint>


  <link name="block_5_21">
    <visual>
      <origin xyz="0 0 0"/>
      <geometry>
        <box size="1.0 1.0 2.0"/>
      </geometry>
      <material name="wall">
        <color rgba="0.95 0.95 0.98 1.0"/>
      </material>
    </visual>
    <collision>
      <origin xyz="0 0 0"/>
      <geometry>
        <box size="1.0 1.0 2.0"/>
      </geometry>
    </collision>
    <inertial>
      <mass value="0"/> <!-- static -->
      <inertia ixx="0" iyy="0" izz="0" ixy="0" ixz="0" iyz="0"/>
    </inertial>
  </link>


  <joint name="joint_block_5_21" type="fixed">
    <parent link="maze_base"/>
    <child link="block_5_21"/>
    <origin xyz="17.5 0.5 1.0" rpy="0 0 0"/>
  </joint>


  <link name="block_6_0">
    <visual>
      <origin xyz="0 0 0"/>
      <geometry>
        <box size="1.0 1.0 2.0"/>
      </geometry>
      <material name="wall">
        <color rgba="0.95 0.95 0.98 1.0"/>
      </material>
    </visual>
    <collision>
      <origin xyz="0 0 0"/>
      <geometry>
        <box size="1.0 1.0 2.0"/>
      </geometry>
    </collision>
    <inertial>
      <mass value="0"/> <!-- static -->
      <inertia ixx="0" iyy="0" izz="0" ixy="0" ixz="0" iyz="0"/>
    </inertial>
  </link>


  <joint name="joint_block_6_0" type="fixed">
    <parent link="maze_base"/>
    <child link="block_6_0"/>
    <origin xyz="-3.5 -0.5 1.0" rpy="0 0 0"/>
  </joint>


  <link name="block_6_6">
    <visual>
      <origin xyz="0 0 0"/>
      <geometry>
        <box size="1.0 1.0 2.0"/>
      </geometry>
      <material name="wall">
        <color rgba="0.95 0.95 0.98 1.0"/>
      </material>
    </visual>
    <collision>
      <origin xyz="0 0 0"/>
      <geometry>
        <box size="1.0 1.0 2.0"/>
      </geometry>
    </collision>
    <inertial>
      <mass value="0"/> <!-- static -->
      <inertia ixx="0" iyy="0" izz="0" ixy="0" ixz="0" iyz="0"/>
    </inertial>
  </link>


  <joint name="joint_block_6_6" type="fixed">
    <parent link="maze_base"/>
    <child link="block_6_6"/>
    <origin xyz="2.5 -0.5 1.0" rpy="0 0 0"/>
  </joint>


  <link name="block_6_10">
    <visual>
      <origin xyz="0 0 0"/>
      <geometry>
        <box size="1.0 1.0 2.0"/>
      </geometry>
      <material name="wall">
        <color rgba="0.95 0.95 0.98 1.0"/>
      </material>
    </visual>
    <collision>
      <origin xyz="0 0 0"/>
      <geometry>
        <box size="1.0 1.0 2.0"/>
      </geometry>
    </collision>
    <inertial>
      <mass value="0"/> <!-- static -->
      <inertia ixx="0" iyy="0" izz="0" ixy="0" ixz="0" iyz="0"/>
    </inertial>
  </link>


  <joint name="joint_block_6_10" type="fixed">
    <parent link="maze_base"/>
    <child link="block_6_10"/>
    <origin xyz="6.5 -0.5 1.0" rpy="0 0 0"/>
  </joint>


  <link name="block_6_13">
    <visual>
      <origin xyz="0 0 0"/>
      <geometry>
        <box size="1.0 1.0 2.0"/>
      </geometry>
      <material name="wall">
        <color rgba="0.95 0.95 0.98 1.0"/>
      </material>
    </visual>
    <collision>
      <origin xyz="0 0 0"/>
      <geometry>
        <box size="1.0 1.0 2.0"/>
      </geometry>
    </collision>
    <inertial>
      <mass value="0"/> <!-- static -->
      <inertia ixx="0" iyy="0" izz="0" ixy="0" ixz="0" iyz="0"/>
    </inertial>
  </link>


  <joint name="joint_block_6_13" type="fixed">
    <parent link="maze_base"/>
    <child link="block_6_13"/>
    <origin xyz="9.5 -0.5 1.0" rpy="0 0 0"/>
  </joint>


  <link name="block_6_14">
    <visual>
      <origin xyz="0 0 0"/>
      <geometry>
        <box size="1.0 1.0 2.0"/>
      </geometry>
      <material name="wall">
        <color rgba="0.95 0.95 0.98 1.0"/>
      </material>
    </visual>
    <collision>
      <origin xyz="0 0 0"/>
      <geometry>
        <box size="1.0 1.0 2.0"/>
      </geometry>
    </collision>
    <inertial>
      <mass value="0"/> <!-- static -->
      <inertia ixx="0" iyy="0" izz="0" ixy="0" ixz="0" iyz="0"/>
    </inertial>
  </link>


  <joint name="joint_block_6_14" type="fixed">
    <parent link="maze_base"/>
    <child link="block_6_14"/>
    <origin xyz="10.5 -0.5 1.0" rpy="0 0 0"/>
  </joint>


  <link name="block_6_15">
    <visual>
      <origin xyz="0 0 0"/>
      <geometry>
        <box size="1.0 1.0 2.0"/>
      </geometry>
      <material name="wall">
        <color rgba="0.95 0.95 0.98 1.0"/>
      </material>
    </visual>
    <collision>
      <origin xyz="0 0 0"/>
      <geometry>
        <box size="1.0 1.0 2.0"/>
      </geometry>
    </collision>
    <inertial>
      <mass value="0"/> <!-- static -->
      <inertia ixx="0" iyy="0" izz="0" ixy="0" ixz="0" iyz="0"/>
    </inertial>
  </link>


  <joint name="joint_block_6_15" type="fixed">
    <parent link="maze_base"/>
    <child link="block_6_15"/>
    <origin xyz="11.5 -0.5 1.0" rpy="0 0 0"/>
  </joint>


  <link name="block_6_17">
    <visual>
      <origin xyz="0 0 0"/>
      <geometry>
        <box size="1.0 1.0 2.0"/>
      </geometry>
      <material name="wall">
        <color rgba="0.95 0.95 0.98 1.0"/>
      </material>
    </visual>
    <collision>
      <origin xyz="0 0 0"/>
      <geometry>
        <box size="1.0 1.0 2.0"/>
      </geometry>
    </collision>
    <inertial>
      <mass value="0"/> <!-- static -->
      <inertia ixx="0" iyy="0" izz="0" ixy="0" ixz="0" iyz="0"/>
    </inertial>
  </link>


  <joint name="joint_block_6_17" type="fixed">
    <parent link="maze_base"/>
    <child link="block_6_17"/>
    <origin xyz="13.5 -0.5 1.0" rpy="0 0 0"/>
  </joint>


  <link name="block_6_18">
    <visual>
      <origin xyz="0 0 0"/>
      <geometry>
        <box size="1.0 1.0 2.0"/>
      </geometry>
      <material name="wall">
        <color rgba="0.95 0.95 0.98 1.0"/>
      </material>
    </visual>
    <collision>
      <origin xyz="0 0 0"/>
      <geometry>
        <box size="1.0 1.0 2.0"/>
      </geometry>
    </collision>
    <inertial>
      <mass value="0"/> <!-- static -->
      <inertia ixx="0" iyy="0" izz="0" ixy="0" ixz="0" iyz="0"/>
    </inertial>
  </link>


  <joint name="joint_block_6_18" type="fixed">
    <parent link="maze_base"/>
    <child link="block_6_18"/>
    <origin xyz="14.5 -0.5 1.0" rpy="0 0 0"/>
  </joint>


  <link name="block_6_19">
    <visual>
      <origin xyz="0 0 0"/>
      <geometry>
        <box size="1.0 1.0 2.0"/>
      </geometry>
      <material name="wall">
        <color rgba="0.95 0.95 0.98 1.0"/>
      </material>
    </visual>
    <collision>
      <origin xyz="0 0 0"/>
      <geometry>
        <box size="1.0 1.0 2.0"/>
      </geometry>
    </collision>
    <inertial>
      <mass value="0"/> <!-- static -->
      <inertia ixx="0" iyy="0" izz="0" ixy="0" ixz="0" iyz="0"/>
    </inertial>
  </link>


  <joint name="joint_block_6_19" type="fixed">
    <parent link="maze_base"/>
    <child link="block_6_19"/>
    <origin xyz="15.5 -0.5 1.0" rpy="0 0 0"/>
  </joint>


  <link name="block_6_20">
    <visual>
      <origin xyz="0 0 0"/>
      <geometry>
        <box size="1.0 1.0 2.0"/>
      </geometry>
      <material name="wall">
        <color rgba="0.95 0.95 0.98 1.0"/>
      </material>
    </visual>
    <collision>
      <origin xyz="0 0 0"/>
      <geometry>
        <box size="1.0 1.0 2.0"/>
      </geometry>
    </collision>
    <inertial>
      <mass value="0"/> <!-- static -->
      <inertia ixx="0" iyy="0" izz="0" ixy="0" ixz="0" iyz="0"/>
    </inertial>
  </link>


  <joint name="joint_block_6_20" type="fixed">
    <parent link="maze_base"/>
    <child link="block_6_20"/>
    <origin xyz="16.5 -0.5 1.0" rpy="0 0 0"/>
  </joint>


  <link name="block_6_21">
    <visual>
      <origin xyz="0 0 0"/>
      <geometry>
        <box size="1.0 1.0 2.0"/>
      </geometry>
      <material name="wall">
        <color rgba="0.95 0.95 0.98 1.0"/>
      </material>
    </visual>
    <collision>
      <origin xyz="0 0 0"/>
      <geometry>
        <box size="1.0 1.0 2.0"/>
      </geometry>
    </collision>
    <inertial>
      <mass value="0"/> <!-- static -->
      <inertia ixx="0" iyy="0" izz="0" ixy="0" ixz="0" iyz="0"/>
    </inertial>
  </link>


  <joint name="joint_block_6_21" type="fixed">
    <parent link="maze_base"/>
    <child link="block_6_21"/>
    <origin xyz="17.5 -0.5 1.0" rpy="0 0 0"/>
  </joint>


  <link name="block_7_0">
    <visual>
      <origin xyz="0 0 0"/>
      <geometry>
        <box size="1.0 1.0 2.0"/>
      </geometry>
      <material name="wall">
        <color rgba="0.95 0.95 0.98 1.0"/>
      </material>
    </visual>
    <collision>
      <origin xyz="0 0 0"/>
      <geometry>
        <box size="1.0 1.0 2.0"/>
      </geometry>
    </collision>
    <inertial>
      <mass value="0"/> <!-- static -->
      <inertia ixx="0" iyy="0" izz="0" ixy="0" ixz="0" iyz="0"/>
    </inertial>
  </link>


  <joint name="joint_block_7_0" type="fixed">
    <parent link="maze_base"/>
    <child link="block_7_0"/>
    <origin xyz="-3.5 -1.5 1.0" rpy="0 0 0"/>
  </joint>


  <link name="block_7_6">
    <visual>
      <origin xyz="0 0 0"/>
      <geometry>
        <box size="1.0 1.0 2.0"/>
      </geometry>
      <material name="wall">
        <color rgba="0.95 0.95 0.98 1.0"/>
      </material>
    </visual>
    <collision>
      <origin xyz="0 0 0"/>
      <geometry>
        <box size="1.0 1.0 2.0"/>
      </geometry>
    </collision>
    <inertial>
      <mass value="0"/> <!-- static -->
      <inertia ixx="0" iyy="0" izz="0" ixy="0" ixz="0" iyz="0"/>
    </inertial>
  </link>


  <joint name="joint_block_7_6" type="fixed">
    <parent link="maze_base"/>
    <child link="block_7_6"/>
    <origin xyz="2.5 -1.5 1.0" rpy="0 0 0"/>
  </joint>


  <link name="block_7_9">
    <visual>
      <origin xyz="0 0 0"/>
      <geometry>
        <box size="1.0 1.0 2.0"/>
      </geometry>
      <material name="wall">
        <color rgba="0.95 0.95 0.98 1.0"/>
      </material>
    </visual>
    <collision>
      <origin xyz="0 0 0"/>
      <geometry>
        <box size="1.0 1.0 2.0"/>
      </geometry>
    </collision>
    <inertial>
      <mass value="0"/> <!-- static -->
      <inertia ixx="0" iyy="0" izz="0" ixy="0" ixz="0" iyz="0"/>
    </inertial>
  </link>


  <joint name="joint_block_7_9" type="fixed">
    <parent link="maze_base"/>
    <child link="block_7_9"/>
    <origin xyz="5.5 -1.5 1.0" rpy="0 0 0"/>
  </joint>


  <link name="block_7_10">
    <visual>
      <origin xyz="0 0 0"/>
      <geometry>
        <box size="1.0 1.0 2.0"/>
      </geometry>
      <material name="wall">
        <color rgba="0.95 0.95 0.98 1.0"/>
      </material>
    </visual>
    <collision>
      <origin xyz="0 0 0"/>
      <geometry>
        <box size="1.0 1.0 2.0"/>
      </geometry>
    </collision>
    <inertial>
      <mass value="0"/> <!-- static -->
      <inertia ixx="0" iyy="0" izz="0" ixy="0" ixz="0" iyz="0"/>
    </inertial>
  </link>


  <joint name="joint_block_7_10" type="fixed">
    <parent link="maze_base"/>
    <child link="block_7_10"/>
    <origin xyz="6.5 -1.5 1.0" rpy="0 0 0"/>
  </joint>


  <link name="block_7_11">
    <visual>
      <origin xyz="0 0 0"/>
      <geometry>
        <box size="1.0 1.0 2.0"/>
      </geometry>
      <material name="wall">
        <color rgba="0.95 0.95 0.98 1.0"/>
      </material>
    </visual>
    <collision>
      <origin xyz="0 0 0"/>
      <geometry>
        <box size="1.0 1.0 2.0"/>
      </geometry>
    </collision>
    <inertial>
      <mass value="0"/> <!-- static -->
      <inertia ixx="0" iyy="0" izz="0" ixy="0" ixz="0" iyz="0"/>
    </inertial>
  </link>


  <joint name="joint_block_7_11" type="fixed">
    <parent link="maze_base"/>
    <child link="block_7_11"/>
    <origin xyz="7.5 -1.5 1.0" rpy="0 0 0"/>
  </joint>


  <link name="block_7_12">
    <visual>
      <origin xyz="0 0 0"/>
      <geometry>
        <box size="1.0 1.0 2.0"/>
      </geometry>
      <material name="wall">
        <color rgba="0.95 0.95 0.98 1.0"/>
      </material>
    </visual>
    <collision>
      <origin xyz="0 0 0"/>
      <geometry>
        <box size="1.0 1.0 2.0"/>
      </geometry>
    </collision>
    <inertial>
      <mass value="0"/> <!-- static -->
      <inertia ixx="0" iyy="0" izz="0" ixy="0" ixz="0" iyz="0"/>
    </inertial>
  </link>


  <joint name="joint_block_7_12" type="fixed">
    <parent link="maze_base"/>
    <child link="block_7_12"/>
    <origin xyz="8.5 -1.5 1.0" rpy="0 0 0"/>
  </joint>


  <link name="block_7_13">
    <visual>
      <origin xyz="0 0 0"/>
      <geometry>
        <box size="1.0 1.0 2.0"/>
      </geometry>
      <material name="wall">
        <color rgba="0.95 0.95 0.98 1.0"/>
      </material>
    </visual>
    <collision>
      <origin xyz="0 0 0"/>
      <geometry>
        <box size="1.0 1.0 2.0"/>
      </geometry>
    </collision>
    <inertial>
      <mass value="0"/> <!-- static -->
      <inertia ixx="0" iyy="0" izz="0" ixy="0" ixz="0" iyz="0"/>
    </inertial>
  </link>


  <joint name="joint_block_7_13" type="fixed">
    <parent link="maze_base"/>
    <child link="block_7_13"/>
    <origin xyz="9.5 -1.5 1.0" rpy="0 0 0"/>
  </joint>


  <link name="block_7_14">
    <visual>
      <origin xyz="0 0 0"/>
      <geometry>
        <box size="1.0 1.0 2.0"/>
      </geometry>
      <material name="wall">
        <color rgba="0.95 0.95 0.98 1.0"/>
      </material>
    </visual>
    <collision>
      <origin xyz="0 0 0"/>
      <geometry>
        <box size="1.0 1.0 2.0"/>
      </geometry>
    </collision>
    <inertial>
      <mass value="0"/> <!-- static -->
      <inertia ixx="0" iyy="0" izz="0" ixy="0" ixz="0" iyz="0"/>
    </inertial>
  </link>


  <joint name="joint_block_7_14" type="fixed">
    <parent link="maze_base"/>
    <child link="block_7_14"/>
    <origin xyz="10.5 -1.5 1.0" rpy="0 0 0"/>
  </joint>


  <link name="block_7_15">
    <visual>
      <origin xyz="0 0 0"/>
      <geometry>
        <box size="1.0 1.0 2.0"/>
      </geometry>
      <material name="wall">
        <color rgba="0.95 0.95 0.98 1.0"/>
      </material>
    </visual>
    <collision>
      <origin xyz="0 0 0"/>
      <geometry>
        <box size="1.0 1.0 2.0"/>
      </geometry>
    </collision>
    <inertial>
      <mass value="0"/> <!-- static -->
      <inertia ixx="0" iyy="0" izz="0" ixy="0" ixz="0" iyz="0"/>
    </inertial>
  </link>


  <joint name="joint_block_7_15" type="fixed">
    <parent link="maze_base"/>
    <child link="block_7_15"/>
    <origin xyz="11.5 -1.5 1.0" rpy="0 0 0"/>
  </joint>


  <link name="block_7_18">
    <visual>
      <origin xyz="0 0 0"/>
      <geometry>
        <box size="1.0 1.0 2.0"/>
      </geometry>
      <material name="wall">
        <color rgba="0.95 0.95 0.98 1.0"/>
      </material>
    </visual>
    <collision>
      <origin xyz="0 0 0"/>
      <geometry>
        <box size="1.0 1.0 2.0"/>
      </geometry>
    </collision>
    <inertial>
      <mass value="0"/> <!-- static -->
      <inertia ixx="0" iyy="0" izz="0" ixy="0" ixz="0" iyz="0"/>
    </inertial>
  </link>


  <joint name="joint_block_7_18" type="fixed">
    <parent link="maze_base"/>
    <child link="block_7_18"/>
    <origin xyz="14.5 -1.5 1.0" rpy="0 0 0"/>
  </joint>


  <link name="block_7_19">
    <visual>
      <origin xyz="0 0 0"/>
      <geometry>
        <box size="1.0 1.0 2.0"/>
      </geometry>
      <material name="wall">
        <color rgba="0.95 0.95 0.98 1.0"/>
      </material>
    </visual>
    <collision>
      <origin xyz="0 0 0"/>
      <geometry>
        <box size="1.0 1.0 2.0"/>
      </geometry>
    </collision>
    <inertial>
      <mass value="0"/> <!-- static -->
      <inertia ixx="0" iyy="0" izz="0" ixy="0" ixz="0" iyz="0"/>
    </inertial>
  </link>


  <joint name="joint_block_7_19" type="fixed">
    <parent link="maze_base"/>
    <child link="block_7_19"/>
    <origin xyz="15.5 -1.5 1.0" rpy="0 0 0"/>
  </joint>


  <link name="block_7_20">
    <visual>
      <origin xyz="0 0 0"/>
      <geometry>
        <box size="1.0 1.0 2.0"/>
      </geometry>
      <material name="wall">
        <color rgba="0.95 0.95 0.98 1.0"/>
      </material>
    </visual>
    <collision>
      <origin xyz="0 0 0"/>
      <geometry>
        <box size="1.0 1.0 2.0"/>
      </geometry>
    </collision>
    <inertial>
      <mass value="0"/> <!-- static -->
      <inertia ixx="0" iyy="0" izz="0" ixy="0" ixz="0" iyz="0"/>
    </inertial>
  </link>


  <joint name="joint_block_7_20" type="fixed">
    <parent link="maze_base"/>
    <child link="block_7_20"/>
    <origin xyz="16.5 -1.5 1.0" rpy="0 0 0"/>
  </joint>


  <link name="block_7_21">
    <visual>
      <origin xyz="0 0 0"/>
      <geometry>
        <box size="1.0 1.0 2.0"/>
      </geometry>
      <material name="wall">
        <color rgba="0.95 0.95 0.98 1.0"/>
      </material>
    </visual>
    <collision>
      <origin xyz="0 0 0"/>
      <geometry>
        <box size="1.0 1.0 2.0"/>
      </geometry>
    </collision>
    <inertial>
      <mass value="0"/> <!-- static -->
      <inertia ixx="0" iyy="0" izz="0" ixy="0" ixz="0" iyz="0"/>
    </inertial>
  </link>


  <joint name="joint_block_7_21" type="fixed">
    <parent link="maze_base"/>
    <child link="block_7_21"/>
    <origin xyz="17.5 -1.5 1.0" rpy="0 0 0"/>
  </joint>


  <link name="block_8_0">
    <visual>
      <origin xyz="0 0 0"/>
      <geometry>
        <box size="1.0 1.0 2.0"/>
      </geometry>
      <material name="wall">
        <color rgba="0.95 0.95 0.98 1.0"/>
      </material>
    </visual>
    <collision>
      <origin xyz="0 0 0"/>
      <geometry>
        <box size="1.0 1.0 2.0"/>
      </geometry>
    </collision>
    <inertial>
      <mass value="0"/> <!-- static -->
      <inertia ixx="0" iyy="0" izz="0" ixy="0" ixz="0" iyz="0"/>
    </inertial>
  </link>


  <joint name="joint_block_8_0" type="fixed">
    <parent link="maze_base"/>
    <child link="block_8_0"/>
    <origin xyz="-3.5 -2.5 1.0" rpy="0 0 0"/>
  </joint>


  <link name="block_8_6">
    <visual>
      <origin xyz="0 0 0"/>
      <geometry>
        <box size="1.0 1.0 2.0"/>
      </geometry>
      <material name="wall">
        <color rgba="0.95 0.95 0.98 1.0"/>
      </material>
    </visual>
    <collision>
      <origin xyz="0 0 0"/>
      <geometry>
        <box size="1.0 1.0 2.0"/>
      </geometry>
    </collision>
    <inertial>
      <mass value="0"/> <!-- static -->
      <inertia ixx="0" iyy="0" izz="0" ixy="0" ixz="0" iyz="0"/>
    </inertial>
  </link>


  <joint name="joint_block_8_6" type="fixed">
    <parent link="maze_base"/>
    <child link="block_8_6"/>
    <origin xyz="2.5 -2.5 1.0" rpy="0 0 0"/>
  </joint>


  <link name="block_8_9">
    <visual>
      <origin xyz="0 0 0"/>
      <geometry>
        <box size="1.0 1.0 2.0"/>
      </geometry>
      <material name="wall">
        <color rgba="0.95 0.95 0.98 1.0"/>
      </material>
    </visual>
    <collision>
      <origin xyz="0 0 0"/>
      <geometry>
        <box size="1.0 1.0 2.0"/>
      </geometry>
    </collision>
    <inertial>
      <mass value="0"/> <!-- static -->
      <inertia ixx="0" iyy="0" izz="0" ixy="0" ixz="0" iyz="0"/>
    </inertial>
  </link>


  <joint name="joint_block_8_9" type="fixed">
    <parent link="maze_base"/>
    <child link="block_8_9"/>
    <origin xyz="5.5 -2.5 1.0" rpy="0 0 0"/>
  </joint>


  <link name="block_8_10">
    <visual>
      <origin xyz="0 0 0"/>
      <geometry>
        <box size="1.0 1.0 2.0"/>
      </geometry>
      <material name="wall">
        <color rgba="0.95 0.95 0.98 1.0"/>
      </material>
    </visual>
    <collision>
      <origin xyz="0 0 0"/>
      <geometry>
        <box size="1.0 1.0 2.0"/>
      </geometry>
    </collision>
    <inertial>
      <mass value="0"/> <!-- static -->
      <inertia ixx="0" iyy="0" izz="0" ixy="0" ixz="0" iyz="0"/>
    </inertial>
  </link>


  <joint name="joint_block_8_10" type="fixed">
    <parent link="maze_base"/>
    <child link="block_8_10"/>
    <origin xyz="6.5 -2.5 1.0" rpy="0 0 0"/>
  </joint>


  <link name="block_8_11">
    <visual>
      <origin xyz="0 0 0"/>
      <geometry>
        <box size="1.0 1.0 2.0"/>
      </geometry>
      <material name="wall">
        <color rgba="0.95 0.95 0.98 1.0"/>
      </material>
    </visual>
    <collision>
      <origin xyz="0 0 0"/>
      <geometry>
        <box size="1.0 1.0 2.0"/>
      </geometry>
    </collision>
    <inertial>
      <mass value="0"/> <!-- static -->
      <inertia ixx="0" iyy="0" izz="0" ixy="0" ixz="0" iyz="0"/>
    </inertial>
  </link>


  <joint name="joint_block_8_11" type="fixed">
    <parent link="maze_base"/>
    <child link="block_8_11"/>
    <origin xyz="7.5 -2.5 1.0" rpy="0 0 0"/>
  </joint>


  <link name="block_8_12">
    <visual>
      <origin xyz="0 0 0"/>
      <geometry>
        <box size="1.0 1.0 2.0"/>
      </geometry>
      <material name="wall">
        <color rgba="0.95 0.95 0.98 1.0"/>
      </material>
    </visual>
    <collision>
      <origin xyz="0 0 0"/>
      <geometry>
        <box size="1.0 1.0 2.0"/>
      </geometry>
    </collision>
    <inertial>
      <mass value="0"/> <!-- static -->
      <inertia ixx="0" iyy="0" izz="0" ixy="0" ixz="0" iyz="0"/>
    </inertial>
  </link>


  <joint name="joint_block_8_12" type="fixed">
    <parent link="maze_base"/>
    <child link="block_8_12"/>
    <origin xyz="8.5 -2.5 1.0" rpy="0 0 0"/>
  </joint>


  <link name="block_8_13">
    <visual>
      <origin xyz="0 0 0"/>
      <geometry>
        <box size="1.0 1.0 2.0"/>
      </geometry>
      <material name="wall">
        <color rgba="0.95 0.95 0.98 1.0"/>
      </material>
    </visual>
    <collision>
      <origin xyz="0 0 0"/>
      <geometry>
        <box size="1.0 1.0 2.0"/>
      </geometry>
    </collision>
    <inertial>
      <mass value="0"/> <!-- static -->
      <inertia ixx="0" iyy="0" izz="0" ixy="0" ixz="0" iyz="0"/>
    </inertial>
  </link>


  <joint name="joint_block_8_13" type="fixed">
    <parent link="maze_base"/>
    <child link="block_8_13"/>
    <origin xyz="9.5 -2.5 1.0" rpy="0 0 0"/>
  </joint>


  <link name="block_8_14">
    <visual>
      <origin xyz="0 0 0"/>
      <geometry>
        <box size="1.0 1.0 2.0"/>
      </geometry>
      <material name="wall">
        <color rgba="0.95 0.95 0.98 1.0"/>
      </material>
    </visual>
    <collision>
      <origin xyz="0 0 0"/>
      <geometry>
        <box size="1.0 1.0 2.0"/>
      </geometry>
    </collision>
    <inertial>
      <mass value="0"/> <!-- static -->
      <inertia ixx="0" iyy="0" izz="0" ixy="0" ixz="0" iyz="0"/>
    </inertial>
  </link>


  <joint name="joint_block_8_14" type="fixed">
    <parent link="maze_base"/>
    <child link="block_8_14"/>
    <origin xyz="10.5 -2.5 1.0" rpy="0 0 0"/>
  </joint>


  <link name="block_8_15">
    <visual>
      <origin xyz="0 0 0"/>
      <geometry>
        <box size="1.0 1.0 2.0"/>
      </geometry>
      <material name="wall">
        <color rgba="0.95 0.95 0.98 1.0"/>
      </material>
    </visual>
    <collision>
      <origin xyz="0 0 0"/>
      <geometry>
        <box size="1.0 1.0 2.0"/>
      </geometry>
    </collision>
    <inertial>
      <mass value="0"/> <!-- static -->
      <inertia ixx="0" iyy="0" izz="0" ixy="0" ixz="0" iyz="0"/>
    </inertial>
  </link>


  <joint name="joint_block_8_15" type="fixed">
    <parent link="maze_base"/>
    <child link="block_8_15"/>
    <origin xyz="11.5 -2.5 1.0" rpy="0 0 0"/>
  </joint>


  <link name="block_8_16">
    <visual>
      <origin xyz="0 0 0"/>
      <geometry>
        <box size="1.0 1.0 2.0"/>
      </geometry>
      <material name="wall">
        <color rgba="0.95 0.95 0.98 1.0"/>
      </material>
    </visual>
    <collision>
      <origin xyz="0 0 0"/>
      <geometry>
        <box size="1.0 1.0 2.0"/>
      </geometry>
    </collision>
    <inertial>
      <mass value="0"/> <!-- static -->
      <inertia ixx="0" iyy="0" izz="0" ixy="0" ixz="0" iyz="0"/>
    </inertial>
  </link>


  <joint name="joint_block_8_16" type="fixed">
    <parent link="maze_base"/>
    <child link="block_8_16"/>
    <origin xyz="12.5 -2.5 1.0" rpy="0 0 0"/>
  </joint>


  <link name="block_8_17">
    <visual>
      <origin xyz="0 0 0"/>
      <geometry>
        <box size="1.0 1.0 2.0"/>
      </geometry>
      <material name="wall">
        <color rgba="0.95 0.95 0.98 1.0"/>
      </material>
    </visual>
    <collision>
      <origin xyz="0 0 0"/>
      <geometry>
        <box size="1.0 1.0 2.0"/>
      </geometry>
    </collision>
    <inertial>
      <mass value="0"/> <!-- static -->
      <inertia ixx="0" iyy="0" izz="0" ixy="0" ixz="0" iyz="0"/>
    </inertial>
  </link>


  <joint name="joint_block_8_17" type="fixed">
    <parent link="maze_base"/>
    <child link="block_8_17"/>
    <origin xyz="13.5 -2.5 1.0" rpy="0 0 0"/>
  </joint>


  <link name="block_8_20">
    <visual>
      <origin xyz="0 0 0"/>
      <geometry>
        <box size="1.0 1.0 2.0"/>
      </geometry>
      <material name="wall">
        <color rgba="0.95 0.95 0.98 1.0"/>
      </material>
    </visual>
    <collision>
      <origin xyz="0 0 0"/>
      <geometry>
        <box size="1.0 1.0 2.0"/>
      </geometry>
    </collision>
    <inertial>
      <mass value="0"/> <!-- static -->
      <inertia ixx="0" iyy="0" izz="0" ixy="0" ixz="0" iyz="0"/>
    </inertial>
  </link>


  <joint name="joint_block_8_20" type="fixed">
    <parent link="maze_base"/>
    <child link="block_8_20"/>
    <origin xyz="16.5 -2.5 1.0" rpy="0 0 0"/>
  </joint>


  <link name="block_8_21">
    <visual>
      <origin xyz="0 0 0"/>
      <geometry>
        <box size="1.0 1.0 2.0"/>
      </geometry>
      <material name="wall">
        <color rgba="0.95 0.95 0.98 1.0"/>
      </material>
    </visual>
    <collision>
      <origin xyz="0 0 0"/>
      <geometry>
        <box size="1.0 1.0 2.0"/>
      </geometry>
    </collision>
    <inertial>
      <mass value="0"/> <!-- static -->
      <inertia ixx="0" iyy="0" izz="0" ixy="0" ixz="0" iyz="0"/>
    </inertial>
  </link>


  <joint name="joint_block_8_21" type="fixed">
    <parent link="maze_base"/>
    <child link="block_8_21"/>
    <origin xyz="17.5 -2.5 1.0" rpy="0 0 0"/>
  </joint>


  <link name="block_9_0">
    <visual>
      <origin xyz="0 0 0"/>
      <geometry>
        <box size="1.0 1.0 2.0"/>
      </geometry>
      <material name="wall">
        <color rgba="0.95 0.95 0.98 1.0"/>
      </material>
    </visual>
    <collision>
      <origin xyz="0 0 0"/>
      <geometry>
        <box size="1.0 1.0 2.0"/>
      </geometry>
    </collision>
    <inertial>
      <mass value="0"/> <!-- static -->
      <inertia ixx="0" iyy="0" izz="0" ixy="0" ixz="0" iyz="0"/>
    </inertial>
  </link>


  <joint name="joint_block_9_0" type="fixed">
    <parent link="maze_base"/>
    <child link="block_9_0"/>
    <origin xyz="-3.5 -3.5 1.0" rpy="0 0 0"/>
  </joint>


  <link name="block_9_8">
    <visual>
      <origin xyz="0 0 0"/>
      <geometry>
        <box size="1.0 1.0 2.0"/>
      </geometry>
      <material name="wall">
        <color rgba="0.95 0.95 0.98 1.0"/>
      </material>
    </visual>
    <collision>
      <origin xyz="0 0 0"/>
      <geometry>
        <box size="1.0 1.0 2.0"/>
      </geometry>
    </collision>
    <inertial>
      <mass value="0"/> <!-- static -->
      <inertia ixx="0" iyy="0" izz="0" ixy="0" ixz="0" iyz="0"/>
    </inertial>
  </link>


  <joint name="joint_block_9_8" type="fixed">
    <parent link="maze_base"/>
    <child link="block_9_8"/>
    <origin xyz="4.5 -3.5 1.0" rpy="0 0 0"/>
  </joint>


  <link name="block_9_9">
    <visual>
      <origin xyz="0 0 0"/>
      <geometry>
        <box size="1.0 1.0 2.0"/>
      </geometry>
      <material name="wall">
        <color rgba="0.95 0.95 0.98 1.0"/>
      </material>
    </visual>
    <collision>
      <origin xyz="0 0 0"/>
      <geometry>
        <box size="1.0 1.0 2.0"/>
      </geometry>
    </collision>
    <inertial>
      <mass value="0"/> <!-- static -->
      <inertia ixx="0" iyy="0" izz="0" ixy="0" ixz="0" iyz="0"/>
    </inertial>
  </link>


  <joint name="joint_block_9_9" type="fixed">
    <parent link="maze_base"/>
    <child link="block_9_9"/>
    <origin xyz="5.5 -3.5 1.0" rpy="0 0 0"/>
  </joint>


  <link name="block_9_10">
    <visual>
      <origin xyz="0 0 0"/>
      <geometry>
        <box size="1.0 1.0 2.0"/>
      </geometry>
      <material name="wall">
        <color rgba="0.95 0.95 0.98 1.0"/>
      </material>
    </visual>
    <collision>
      <origin xyz="0 0 0"/>
      <geometry>
        <box size="1.0 1.0 2.0"/>
      </geometry>
    </collision>
    <inertial>
      <mass value="0"/> <!-- static -->
      <inertia ixx="0" iyy="0" izz="0" ixy="0" ixz="0" iyz="0"/>
    </inertial>
  </link>


  <joint name="joint_block_9_10" type="fixed">
    <parent link="maze_base"/>
    <child link="block_9_10"/>
    <origin xyz="6.5 -3.5 1.0" rpy="0 0 0"/>
  </joint>


  <link name="block_9_11">
    <visual>
      <origin xyz="0 0 0"/>
      <geometry>
        <box size="1.0 1.0 2.0"/>
      </geometry>
      <material name="wall">
        <color rgba="0.95 0.95 0.98 1.0"/>
      </material>
    </visual>
    <collision>
      <origin xyz="0 0 0"/>
      <geometry>
        <box size="1.0 1.0 2.0"/>
      </geometry>
    </collision>
    <inertial>
      <mass value="0"/> <!-- static -->
      <inertia ixx="0" iyy="0" izz="0" ixy="0" ixz="0" iyz="0"/>
    </inertial>
  </link>


  <joint name="joint_block_9_11" type="fixed">
    <parent link="maze_base"/>
    <child link="block_9_11"/>
    <origin xyz="7.5 -3.5 1.0" rpy="0 0 0"/>
  </joint>


  <link name="block_9_12">
    <visual>
      <origin xyz="0 0 0"/>
      <geometry>
        <box size="1.0 1.0 2.0"/>
      </geometry>
      <material name="wall">
        <color rgba="0.95 0.95 0.98 1.0"/>
      </material>
    </visual>
    <collision>
      <origin xyz="0 0 0"/>
      <geometry>
        <box size="1.0 1.0 2.0"/>
      </geometry>
    </collision>
    <inertial>
      <mass value="0"/> <!-- static -->
      <inertia ixx="0" iyy="0" izz="0" ixy="0" ixz="0" iyz="0"/>
    </inertial>
  </link>


  <joint name="joint_block_9_12" type="fixed">
    <parent link="maze_base"/>
    <child link="block_9_12"/>
    <origin xyz="8.5 -3.5 1.0" rpy="0 0 0"/>
  </joint>


  <link name="block_9_13">
    <visual>
      <origin xyz="0 0 0"/>
      <geometry>
        <box size="1.0 1.0 2.0"/>
      </geometry>
      <material name="wall">
        <color rgba="0.95 0.95 0.98 1.0"/>
      </material>
    </visual>
    <collision>
      <origin xyz="0 0 0"/>
      <geometry>
        <box size="1.0 1.0 2.0"/>
      </geometry>
    </collision>
    <inertial>
      <mass value="0"/> <!-- static -->
      <inertia ixx="0" iyy="0" izz="0" ixy="0" ixz="0" iyz="0"/>
    </inertial>
  </link>


  <joint name="joint_block_9_13" type="fixed">
    <parent link="maze_base"/>
    <child link="block_9_13"/>
    <origin xyz="9.5 -3.5 1.0" rpy="0 0 0"/>
  </joint>


  <link name="block_9_14">
    <visual>
      <origin xyz="0 0 0"/>
      <geometry>
        <box size="1.0 1.0 2.0"/>
      </geometry>
      <material name="wall">
        <color rgba="0.95 0.95 0.98 1.0"/>
      </material>
    </visual>
    <collision>
      <origin xyz="0 0 0"/>
      <geometry>
        <box size="1.0 1.0 2.0"/>
      </geometry>
    </collision>
    <inertial>
      <mass value="0"/> <!-- static -->
      <inertia ixx="0" iyy="0" izz="0" ixy="0" ixz="0" iyz="0"/>
    </inertial>
  </link>


  <joint name="joint_block_9_14" type="fixed">
    <parent link="maze_base"/>
    <child link="block_9_14"/>
    <origin xyz="10.5 -3.5 1.0" rpy="0 0 0"/>
  </joint>


  <link name="block_9_15">
    <visual>
      <origin xyz="0 0 0"/>
      <geometry>
        <box size="1.0 1.0 2.0"/>
      </geometry>
      <material name="wall">
        <color rgba="0.95 0.95 0.98 1.0"/>
      </material>
    </visual>
    <collision>
      <origin xyz="0 0 0"/>
      <geometry>
        <box size="1.0 1.0 2.0"/>
      </geometry>
    </collision>
    <inertial>
      <mass value="0"/> <!-- static -->
      <inertia ixx="0" iyy="0" izz="0" ixy="0" ixz="0" iyz="0"/>
    </inertial>
  </link>


  <joint name="joint_block_9_15" type="fixed">
    <parent link="maze_base"/>
    <child link="block_9_15"/>
    <origin xyz="11.5 -3.5 1.0" rpy="0 0 0"/>
  </joint>


  <link name="block_9_17">
    <visual>
      <origin xyz="0 0 0"/>
      <geometry>
        <box size="1.0 1.0 2.0"/>
      </geometry>
      <material name="wall">
        <color rgba="0.95 0.95 0.98 1.0"/>
      </material>
    </visual>
    <collision>
      <origin xyz="0 0 0"/>
      <geometry>
        <box size="1.0 1.0 2.0"/>
      </geometry>
    </collision>
    <inertial>
      <mass value="0"/> <!-- static -->
      <inertia ixx="0" iyy="0" izz="0" ixy="0" ixz="0" iyz="0"/>
    </inertial>
  </link>


  <joint name="joint_block_9_17" type="fixed">
    <parent link="maze_base"/>
    <child link="block_9_17"/>
    <origin xyz="13.5 -3.5 1.0" rpy="0 0 0"/>
  </joint>


  <link name="block_9_18">
    <visual>
      <origin xyz="0 0 0"/>
      <geometry>
        <box size="1.0 1.0 2.0"/>
      </geometry>
      <material name="wall">
        <color rgba="0.95 0.95 0.98 1.0"/>
      </material>
    </visual>
    <collision>
      <origin xyz="0 0 0"/>
      <geometry>
        <box size="1.0 1.0 2.0"/>
      </geometry>
    </collision>
    <inertial>
      <mass value="0"/> <!-- static -->
      <inertia ixx="0" iyy="0" izz="0" ixy="0" ixz="0" iyz="0"/>
    </inertial>
  </link>


  <joint name="joint_block_9_18" type="fixed">
    <parent link="maze_base"/>
    <child link="block_9_18"/>
    <origin xyz="14.5 -3.5 1.0" rpy="0 0 0"/>
  </joint>


  <link name="block_9_19">
    <visual>
      <origin xyz="0 0 0"/>
      <geometry>
        <box size="1.0 1.0 2.0"/>
      </geometry>
      <material name="wall">
        <color rgba="0.95 0.95 0.98 1.0"/>
      </material>
    </visual>
    <collision>
      <origin xyz="0 0 0"/>
      <geometry>
        <box size="1.0 1.0 2.0"/>
      </geometry>
    </collision>
    <inertial>
      <mass value="0"/> <!-- static -->
      <inertia ixx="0" iyy="0" izz="0" ixy="0" ixz="0" iyz="0"/>
    </inertial>
  </link>


  <joint name="joint_block_9_19" type="fixed">
    <parent link="maze_base"/>
    <child link="block_9_19"/>
    <origin xyz="15.5 -3.5 1.0" rpy="0 0 0"/>
  </joint>


  <link name="block_9_20">
    <visual>
      <origin xyz="0 0 0"/>
      <geometry>
        <box size="1.0 1.0 2.0"/>
      </geometry>
      <material name="wall">
        <color rgba="0.95 0.95 0.98 1.0"/>
      </material>
    </visual>
    <collision>
      <origin xyz="0 0 0"/>
      <geometry>
        <box size="1.0 1.0 2.0"/>
      </geometry>
    </collision>
    <inertial>
      <mass value="0"/> <!-- static -->
      <inertia ixx="0" iyy="0" izz="0" ixy="0" ixz="0" iyz="0"/>
    </inertial>
  </link>


  <joint name="joint_block_9_20" type="fixed">
    <parent link="maze_base"/>
    <child link="block_9_20"/>
    <origin xyz="16.5 -3.5 1.0" rpy="0 0 0"/>
  </joint>


  <link name="block_9_21">
    <visual>
      <origin xyz="0 0 0"/>
      <geometry>
        <box size="1.0 1.0 2.0"/>
      </geometry>
      <material name="wall">
        <color rgba="0.95 0.95 0.98 1.0"/>
      </material>
    </visual>
    <collision>
      <origin xyz="0 0 0"/>
      <geometry>
        <box size="1.0 1.0 2.0"/>
      </geometry>
    </collision>
    <inertial>
      <mass value="0"/> <!-- static -->
      <inertia ixx="0" iyy="0" izz="0" ixy="0" ixz="0" iyz="0"/>
    </inertial>
  </link>


  <joint name="joint_block_9_21" type="fixed">
    <parent link="maze_base"/>
    <child link="block_9_21"/>
    <origin xyz="17.5 -3.5 1.0" rpy="0 0 0"/>
  </joint>


  <link name="block_10_0">
    <visual>
      <origin xyz="0 0 0"/>
      <geometry>
        <box size="1.0 1.0 2.0"/>
      </geometry>
      <material name="wall">
        <color rgba="0.95 0.95 0.98 1.0"/>
      </material>
    </visual>
    <collision>
      <origin xyz="0 0 0"/>
      <geometry>
        <box size="1.0 1.0 2.0"/>
      </geometry>
    </collision>
    <inertial>
      <mass value="0"/> <!-- static -->
      <inertia ixx="0" iyy="0" izz="0" ixy="0" ixz="0" iyz="0"/>
    </inertial>
  </link>


  <joint name="joint_block_10_0" type="fixed">
    <parent link="maze_base"/>
    <child link="block_10_0"/>
    <origin xyz="-3.5 -4.5 1.0" rpy="0 0 0"/>
  </joint>


  <link name="block_10_6">
    <visual>
      <origin xyz="0 0 0"/>
      <geometry>
        <box size="1.0 1.0 2.0"/>
      </geometry>
      <material name="wall">
        <color rgba="0.95 0.95 0.98 1.0"/>
      </material>
    </visual>
    <collision>
      <origin xyz="0 0 0"/>
      <geometry>
        <box size="1.0 1.0 2.0"/>
      </geometry>
    </collision>
    <inertial>
      <mass value="0"/> <!-- static -->
      <inertia ixx="0" iyy="0" izz="0" ixy="0" ixz="0" iyz="0"/>
    </inertial>
  </link>


  <joint name="joint_block_10_6" type="fixed">
    <parent link="maze_base"/>
    <child link="block_10_6"/>
    <origin xyz="2.5 -4.5 1.0" rpy="0 0 0"/>
  </joint>


  <link name="block_10_9">
    <visual>
      <origin xyz="0 0 0"/>
      <geometry>
        <box size="1.0 1.0 2.0"/>
      </geometry>
      <material name="wall">
        <color rgba="0.95 0.95 0.98 1.0"/>
      </material>
    </visual>
    <collision>
      <origin xyz="0 0 0"/>
      <geometry>
        <box size="1.0 1.0 2.0"/>
      </geometry>
    </collision>
    <inertial>
      <mass value="0"/> <!-- static -->
      <inertia ixx="0" iyy="0" izz="0" ixy="0" ixz="0" iyz="0"/>
    </inertial>
  </link>


  <joint name="joint_block_10_9" type="fixed">
    <parent link="maze_base"/>
    <child link="block_10_9"/>
    <origin xyz="5.5 -4.5 1.0" rpy="0 0 0"/>
  </joint>


  <link name="block_10_10">
    <visual>
      <origin xyz="0 0 0"/>
      <geometry>
        <box size="1.0 1.0 2.0"/>
      </geometry>
      <material name="wall">
        <color rgba="0.95 0.95 0.98 1.0"/>
      </material>
    </visual>
    <collision>
      <origin xyz="0 0 0"/>
      <geometry>
        <box size="1.0 1.0 2.0"/>
      </geometry>
    </collision>
    <inertial>
      <mass value="0"/> <!-- static -->
      <inertia ixx="0" iyy="0" izz="0" ixy="0" ixz="0" iyz="0"/>
    </inertial>
  </link>


  <joint name="joint_block_10_10" type="fixed">
    <parent link="maze_base"/>
    <child link="block_10_10"/>
    <origin xyz="6.5 -4.5 1.0" rpy="0 0 0"/>
  </joint>


  <link name="block_10_11">
    <visual>
      <origin xyz="0 0 0"/>
      <geometry>
        <box size="1.0 1.0 2.0"/>
      </geometry>
      <material name="wall">
        <color rgba="0.95 0.95 0.98 1.0"/>
      </material>
    </visual>
    <collision>
      <origin xyz="0 0 0"/>
      <geometry>
        <box size="1.0 1.0 2.0"/>
      </geometry>
    </collision>
    <inertial>
      <mass value="0"/> <!-- static -->
      <inertia ixx="0" iyy="0" izz="0" ixy="0" ixz="0" iyz="0"/>
    </inertial>
  </link>


  <joint name="joint_block_10_11" type="fixed">
    <parent link="maze_base"/>
    <child link="block_10_11"/>
    <origin xyz="7.5 -4.5 1.0" rpy="0 0 0"/>
  </joint>


  <link name="block_10_12">
    <visual>
      <origin xyz="0 0 0"/>
      <geometry>
        <box size="1.0 1.0 2.0"/>
      </geometry>
      <material name="wall">
        <color rgba="0.95 0.95 0.98 1.0"/>
      </material>
    </visual>
    <collision>
      <origin xyz="0 0 0"/>
      <geometry>
        <box size="1.0 1.0 2.0"/>
      </geometry>
    </collision>
    <inertial>
      <mass value="0"/> <!-- static -->
      <inertia ixx="0" iyy="0" izz="0" ixy="0" ixz="0" iyz="0"/>
    </inertial>
  </link>


  <joint name="joint_block_10_12" type="fixed">
    <parent link="maze_base"/>
    <child link="block_10_12"/>
    <origin xyz="8.5 -4.5 1.0" rpy="0 0 0"/>
  </joint>


  <link name="block_10_13">
    <visual>
      <origin xyz="0 0 0"/>
      <geometry>
        <box size="1.0 1.0 2.0"/>
      </geometry>
      <material name="wall">
        <color rgba="0.95 0.95 0.98 1.0"/>
      </material>
    </visual>
    <collision>
      <origin xyz="0 0 0"/>
      <geometry>
        <box size="1.0 1.0 2.0"/>
      </geometry>
    </collision>
    <inertial>
      <mass value="0"/> <!-- static -->
      <inertia ixx="0" iyy="0" izz="0" ixy="0" ixz="0" iyz="0"/>
    </inertial>
  </link>


  <joint name="joint_block_10_13" type="fixed">
    <parent link="maze_base"/>
    <child link="block_10_13"/>
    <origin xyz="9.5 -4.5 1.0" rpy="0 0 0"/>
  </joint>


  <link name="block_10_14">
    <visual>
      <origin xyz="0 0 0"/>
      <geometry>
        <box size="1.0 1.0 2.0"/>
      </geometry>
      <material name="wall">
        <color rgba="0.95 0.95 0.98 1.0"/>
      </material>
    </visual>
    <collision>
      <origin xyz="0 0 0"/>
      <geometry>
        <box size="1.0 1.0 2.0"/>
      </geometry>
    </collision>
    <inertial>
      <mass value="0"/> <!-- static -->
      <inertia ixx="0" iyy="0" izz="0" ixy="0" ixz="0" iyz="0"/>
    </inertial>
  </link>


  <joint name="joint_block_10_14" type="fixed">
    <parent link="maze_base"/>
    <child link="block_10_14"/>
    <origin xyz="10.5 -4.5 1.0" rpy="0 0 0"/>
  </joint>


  <link name="block_10_16">
    <visual>
      <origin xyz="0 0 0"/>
      <geometry>
        <box size="1.0 1.0 2.0"/>
      </geometry>
      <material name="wall">
        <color rgba="0.95 0.95 0.98 1.0"/>
      </material>
    </visual>
    <collision>
      <origin xyz="0 0 0"/>
      <geometry>
        <box size="1.0 1.0 2.0"/>
      </geometry>
    </collision>
    <inertial>
      <mass value="0"/> <!-- static -->
      <inertia ixx="0" iyy="0" izz="0" ixy="0" ixz="0" iyz="0"/>
    </inertial>
  </link>


  <joint name="joint_block_10_16" type="fixed">
    <parent link="maze_base"/>
    <child link="block_10_16"/>
    <origin xyz="12.5 -4.5 1.0" rpy="0 0 0"/>
  </joint>


  <link name="block_10_18">
    <visual>
      <origin xyz="0 0 0"/>
      <geometry>
        <box size="1.0 1.0 2.0"/>
      </geometry>
      <material name="wall">
        <color rgba="0.95 0.95 0.98 1.0"/>
      </material>
    </visual>
    <collision>
      <origin xyz="0 0 0"/>
      <geometry>
        <box size="1.0 1.0 2.0"/>
      </geometry>
    </collision>
    <inertial>
      <mass value="0"/> <!-- static -->
      <inertia ixx="0" iyy="0" izz="0" ixy="0" ixz="0" iyz="0"/>
    </inertial>
  </link>


  <joint name="joint_block_10_18" type="fixed">
    <parent link="maze_base"/>
    <child link="block_10_18"/>
    <origin xyz="14.5 -4.5 1.0" rpy="0 0 0"/>
  </joint>


  <link name="block_10_20">
    <visual>
      <origin xyz="0 0 0"/>
      <geometry>
        <box size="1.0 1.0 2.0"/>
      </geometry>
      <material name="wall">
        <color rgba="0.95 0.95 0.98 1.0"/>
      </material>
    </visual>
    <collision>
      <origin xyz="0 0 0"/>
      <geometry>
        <box size="1.0 1.0 2.0"/>
      </geometry>
    </collision>
    <inertial>
      <mass value="0"/> <!-- static -->
      <inertia ixx="0" iyy="0" izz="0" ixy="0" ixz="0" iyz="0"/>
    </inertial>
  </link>


  <joint name="joint_block_10_20" type="fixed">
    <parent link="maze_base"/>
    <child link="block_10_20"/>
    <origin xyz="16.5 -4.5 1.0" rpy="0 0 0"/>
  </joint>


  <link name="block_10_21">
    <visual>
      <origin xyz="0 0 0"/>
      <geometry>
        <box size="1.0 1.0 2.0"/>
      </geometry>
      <material name="wall">
        <color rgba="0.95 0.95 0.98 1.0"/>
      </material>
    </visual>
    <collision>
      <origin xyz="0 0 0"/>
      <geometry>
        <box size="1.0 1.0 2.0"/>
      </geometry>
    </collision>
    <inertial>
      <mass value="0"/> <!-- static -->
      <inertia ixx="0" iyy="0" izz="0" ixy="0" ixz="0" iyz="0"/>
    </inertial>
  </link>


  <joint name="joint_block_10_21" type="fixed">
    <parent link="maze_base"/>
    <child link="block_10_21"/>
    <origin xyz="17.5 -4.5 1.0" rpy="0 0 0"/>
  </joint>


  <link name="block_11_0">
    <visual>
      <origin xyz="0 0 0"/>
      <geometry>
        <box size="1.0 1.0 2.0"/>
      </geometry>
      <material name="wall">
        <color rgba="0.95 0.95 0.98 1.0"/>
      </material>
    </visual>
    <collision>
      <origin xyz="0 0 0"/>
      <geometry>
        <box size="1.0 1.0 2.0"/>
      </geometry>
    </collision>
    <inertial>
      <mass value="0"/> <!-- static -->
      <inertia ixx="0" iyy="0" izz="0" ixy="0" ixz="0" iyz="0"/>
    </inertial>
  </link>


  <joint name="joint_block_11_0" type="fixed">
    <parent link="maze_base"/>
    <child link="block_11_0"/>
    <origin xyz="-3.5 -5.5 1.0" rpy="0 0 0"/>
  </joint>


  <link name="block_11_1">
    <visual>
      <origin xyz="0 0 0"/>
      <geometry>
        <box size="1.0 1.0 2.0"/>
      </geometry>
      <material name="wall">
        <color rgba="0.95 0.95 0.98 1.0"/>
      </material>
    </visual>
    <collision>
      <origin xyz="0 0 0"/>
      <geometry>
        <box size="1.0 1.0 2.0"/>
      </geometry>
    </collision>
    <inertial>
      <mass value="0"/> <!-- static -->
      <inertia ixx="0" iyy="0" izz="0" ixy="0" ixz="0" iyz="0"/>
    </inertial>
  </link>


  <joint name="joint_block_11_1" type="fixed">
    <parent link="maze_base"/>
    <child link="block_11_1"/>
    <origin xyz="-2.5 -5.5 1.0" rpy="0 0 0"/>
  </joint>


  <link name="block_11_2">
    <visual>
      <origin xyz="0 0 0"/>
      <geometry>
        <box size="1.0 1.0 2.0"/>
      </geometry>
      <material name="wall">
        <color rgba="0.95 0.95 0.98 1.0"/>
      </material>
    </visual>
    <collision>
      <origin xyz="0 0 0"/>
      <geometry>
        <box size="1.0 1.0 2.0"/>
      </geometry>
    </collision>
    <inertial>
      <mass value="0"/> <!-- static -->
      <inertia ixx="0" iyy="0" izz="0" ixy="0" ixz="0" iyz="0"/>
    </inertial>
  </link>


  <joint name="joint_block_11_2" type="fixed">
    <parent link="maze_base"/>
    <child link="block_11_2"/>
    <origin xyz="-1.5 -5.5 1.0" rpy="0 0 0"/>
  </joint>


  <link name="block_11_3">
    <visual>
      <origin xyz="0 0 0"/>
      <geometry>
        <box size="1.0 1.0 2.0"/>
      </geometry>
      <material name="wall">
        <color rgba="0.95 0.95 0.98 1.0"/>
      </material>
    </visual>
    <collision>
      <origin xyz="0 0 0"/>
      <geometry>
        <box size="1.0 1.0 2.0"/>
      </geometry>
    </collision>
    <inertial>
      <mass value="0"/> <!-- static -->
      <inertia ixx="0" iyy="0" izz="0" ixy="0" ixz="0" iyz="0"/>
    </inertial>
  </link>


  <joint name="joint_block_11_3" type="fixed">
    <parent link="maze_base"/>
    <child link="block_11_3"/>
    <origin xyz="-0.5 -5.5 1.0" rpy="0 0 0"/>
  </joint>


  <link name="block_11_4">
    <visual>
      <origin xyz="0 0 0"/>
      <geometry>
        <box size="1.0 1.0 2.0"/>
      </geometry>
      <material name="wall">
        <color rgba="0.95 0.95 0.98 1.0"/>
      </material>
    </visual>
    <collision>
      <origin xyz="0 0 0"/>
      <geometry>
        <box size="1.0 1.0 2.0"/>
      </geometry>
    </collision>
    <inertial>
      <mass value="0"/> <!-- static -->
      <inertia ixx="0" iyy="0" izz="0" ixy="0" ixz="0" iyz="0"/>
    </inertial>
  </link>


  <joint name="joint_block_11_4" type="fixed">
    <parent link="maze_base"/>
    <child link="block_11_4"/>
    <origin xyz="0.5 -5.5 1.0" rpy="0 0 0"/>
  </joint>


  <link name="block_11_5">
    <visual>
      <origin xyz="0 0 0"/>
      <geometry>
        <box size="1.0 1.0 2.0"/>
      </geometry>
      <material name="wall">
        <color rgba="0.95 0.95 0.98 1.0"/>
      </material>
    </visual>
    <collision>
      <origin xyz="0 0 0"/>
      <geometry>
        <box size="1.0 1.0 2.0"/>
      </geometry>
    </collision>
    <inertial>
      <mass value="0"/> <!-- static -->
      <inertia ixx="0" iyy="0" izz="0" ixy="0" ixz="0" iyz="0"/>
    </inertial>
  </link>


  <joint name="joint_block_11_5" type="fixed">
    <parent link="maze_base"/>
    <child link="block_11_5"/>
    <origin xyz="1.5 -5.5 1.0" rpy="0 0 0"/>
  </joint>


  <link name="block_11_6">
    <visual>
      <origin xyz="0 0 0"/>
      <geometry>
        <box size="1.0 1.0 2.0"/>
      </geometry>
      <material name="wall">
        <color rgba="0.95 0.95 0.98 1.0"/>
      </material>
    </visual>
    <collision>
      <origin xyz="0 0 0"/>
      <geometry>
        <box size="1.0 1.0 2.0"/>
      </geometry>
    </collision>
    <inertial>
      <mass value="0"/> <!-- static -->
      <inertia ixx="0" iyy="0" izz="0" ixy="0" ixz="0" iyz="0"/>
    </inertial>
  </link>


  <joint name="joint_block_11_6" type="fixed">
    <parent link="maze_base"/>
    <child link="block_11_6"/>
    <origin xyz="2.5 -5.5 1.0" rpy="0 0 0"/>
  </joint>


  <link name="block_11_7">
    <visual>
      <origin xyz="0 0 0"/>
      <geometry>
        <box size="1.0 1.0 2.0"/>
      </geometry>
      <material name="wall">
        <color rgba="0.95 0.95 0.98 1.0"/>
      </material>
    </visual>
    <collision>
      <origin xyz="0 0 0"/>
      <geometry>
        <box size="1.0 1.0 2.0"/>
      </geometry>
    </collision>
    <inertial>
      <mass value="0"/> <!-- static -->
      <inertia ixx="0" iyy="0" izz="0" ixy="0" ixz="0" iyz="0"/>
    </inertial>
  </link>


  <joint name="joint_block_11_7" type="fixed">
    <parent link="maze_base"/>
    <child link="block_11_7"/>
    <origin xyz="3.5 -5.5 1.0" rpy="0 0 0"/>
  </joint>


  <link name="block_11_8">
    <visual>
      <origin xyz="0 0 0"/>
      <geometry>
        <box size="1.0 1.0 2.0"/>
      </geometry>
      <material name="wall">
        <color rgba="0.95 0.95 0.98 1.0"/>
      </material>
    </visual>
    <collision>
      <origin xyz="0 0 0"/>
      <geometry>
        <box size="1.0 1.0 2.0"/>
      </geometry>
    </collision>
    <inertial>
      <mass value="0"/> <!-- static -->
      <inertia ixx="0" iyy="0" izz="0" ixy="0" ixz="0" iyz="0"/>
    </inertial>
  </link>


  <joint name="joint_block_11_8" type="fixed">
    <parent link="maze_base"/>
    <child link="block_11_8"/>
    <origin xyz="4.5 -5.5 1.0" rpy="0 0 0"/>
  </joint>


  <link name="block_11_9">
    <visual>
      <origin xyz="0 0 0"/>
      <geometry>
        <box size="1.0 1.0 2.0"/>
      </geometry>
      <material name="wall">
        <color rgba="0.95 0.95 0.98 1.0"/>
      </material>
    </visual>
    <collision>
      <origin xyz="0 0 0"/>
      <geometry>
        <box size="1.0 1.0 2.0"/>
      </geometry>
    </collision>
    <inertial>
      <mass value="0"/> <!-- static -->
      <inertia ixx="0" iyy="0" izz="0" ixy="0" ixz="0" iyz="0"/>
    </inertial>
  </link>


  <joint name="joint_block_11_9" type="fixed">
    <parent link="maze_base"/>
    <child link="block_11_9"/>
    <origin xyz="5.5 -5.5 1.0" rpy="0 0 0"/>
  </joint>


  <link name="block_11_10">
    <visual>
      <origin xyz="0 0 0"/>
      <geometry>
        <box size="1.0 1.0 2.0"/>
      </geometry>
      <material name="wall">
        <color rgba="0.95 0.95 0.98 1.0"/>
      </material>
    </visual>
    <collision>
      <origin xyz="0 0 0"/>
      <geometry>
        <box size="1.0 1.0 2.0"/>
      </geometry>
    </collision>
    <inertial>
      <mass value="0"/> <!-- static -->
      <inertia ixx="0" iyy="0" izz="0" ixy="0" ixz="0" iyz="0"/>
    </inertial>
  </link>


  <joint name="joint_block_11_10" type="fixed">
    <parent link="maze_base"/>
    <child link="block_11_10"/>
    <origin xyz="6.5 -5.5 1.0" rpy="0 0 0"/>
  </joint>


  <link name="block_11_11">
    <visual>
      <origin xyz="0 0 0"/>
      <geometry>
        <box size="1.0 1.0 2.0"/>
      </geometry>
      <material name="wall">
        <color rgba="0.95 0.95 0.98 1.0"/>
      </material>
    </visual>
    <collision>
      <origin xyz="0 0 0"/>
      <geometry>
        <box size="1.0 1.0 2.0"/>
      </geometry>
    </collision>
    <inertial>
      <mass value="0"/> <!-- static -->
      <inertia ixx="0" iyy="0" izz="0" ixy="0" ixz="0" iyz="0"/>
    </inertial>
  </link>


  <joint name="joint_block_11_11" type="fixed">
    <parent link="maze_base"/>
    <child link="block_11_11"/>
    <origin xyz="7.5 -5.5 1.0" rpy="0 0 0"/>
  </joint>


  <link name="block_11_12">
    <visual>
      <origin xyz="0 0 0"/>
      <geometry>
        <box size="1.0 1.0 2.0"/>
      </geometry>
      <material name="wall">
        <color rgba="0.95 0.95 0.98 1.0"/>
      </material>
    </visual>
    <collision>
      <origin xyz="0 0 0"/>
      <geometry>
        <box size="1.0 1.0 2.0"/>
      </geometry>
    </collision>
    <inertial>
      <mass value="0"/> <!-- static -->
      <inertia ixx="0" iyy="0" izz="0" ixy="0" ixz="0" iyz="0"/>
    </inertial>
  </link>


  <joint name="joint_block_11_12" type="fixed">
    <parent link="maze_base"/>
    <child link="block_11_12"/>
    <origin xyz="8.5 -5.5 1.0" rpy="0 0 0"/>
  </joint>


  <link name="block_11_13">
    <visual>
      <origin xyz="0 0 0"/>
      <geometry>
        <box size="1.0 1.0 2.0"/>
      </geometry>
      <material name="wall">
        <color rgba="0.95 0.95 0.98 1.0"/>
      </material>
    </visual>
    <collision>
      <origin xyz="0 0 0"/>
      <geometry>
        <box size="1.0 1.0 2.0"/>
      </geometry>
    </collision>
    <inertial>
      <mass value="0"/> <!-- static -->
      <inertia ixx="0" iyy="0" izz="0" ixy="0" ixz="0" iyz="0"/>
    </inertial>
  </link>


  <joint name="joint_block_11_13" type="fixed">
    <parent link="maze_base"/>
    <child link="block_11_13"/>
    <origin xyz="9.5 -5.5 1.0" rpy="0 0 0"/>
  </joint>


  <link name="block_11_14">
    <visual>
      <origin xyz="0 0 0"/>
      <geometry>
        <box size="1.0 1.0 2.0"/>
      </geometry>
      <material name="wall">
        <color rgba="0.95 0.95 0.98 1.0"/>
      </material>
    </visual>
    <collision>
      <origin xyz="0 0 0"/>
      <geometry>
        <box size="1.0 1.0 2.0"/>
      </geometry>
    </collision>
    <inertial>
      <mass value="0"/> <!-- static -->
      <inertia ixx="0" iyy="0" izz="0" ixy="0" ixz="0" iyz="0"/>
    </inertial>
  </link>


  <joint name="joint_block_11_14" type="fixed">
    <parent link="maze_base"/>
    <child link="block_11_14"/>
    <origin xyz="10.5 -5.5 1.0" rpy="0 0 0"/>
  </joint>


  <link name="block_11_15">
    <visual>
      <origin xyz="0 0 0"/>
      <geometry>
        <box size="1.0 1.0 2.0"/>
      </geometry>
      <material name="wall">
        <color rgba="0.95 0.95 0.98 1.0"/>
      </material>
    </visual>
    <collision>
      <origin xyz="0 0 0"/>
      <geometry>
        <box size="1.0 1.0 2.0"/>
      </geometry>
    </collision>
    <inertial>
      <mass value="0"/> <!-- static -->
      <inertia ixx="0" iyy="0" izz="0" ixy="0" ixz="0" iyz="0"/>
    </inertial>
  </link>


  <joint name="joint_block_11_15" type="fixed">
    <parent link="maze_base"/>
    <child link="block_11_15"/>
    <origin xyz="11.5 -5.5 1.0" rpy="0 0 0"/>
  </joint>


  <link name="block_11_16">
    <visual>
      <origin xyz="0 0 0"/>
      <geometry>
        <box size="1.0 1.0 2.0"/>
      </geometry>
      <material name="wall">
        <color rgba="0.95 0.95 0.98 1.0"/>
      </material>
    </visual>
    <collision>
      <origin xyz="0 0 0"/>
      <geometry>
        <box size="1.0 1.0 2.0"/>
      </geometry>
    </collision>
    <inertial>
      <mass value="0"/> <!-- static -->
      <inertia ixx="0" iyy="0" izz="0" ixy="0" ixz="0" iyz="0"/>
    </inertial>
  </link>


  <joint name="joint_block_11_16" type="fixed">
    <parent link="maze_base"/>
    <child link="block_11_16"/>
    <origin xyz="12.5 -5.5 1.0" rpy="0 0 0"/>
  </joint>


  <link name="block_11_17">
    <visual>
      <origin xyz="0 0 0"/>
      <geometry>
        <box size="1.0 1.0 2.0"/>
      </geometry>
      <material name="wall">
        <color rgba="0.95 0.95 0.98 1.0"/>
      </material>
    </visual>
    <collision>
      <origin xyz="0 0 0"/>
      <geometry>
        <box size="1.0 1.0 2.0"/>
      </geometry>
    </collision>
    <inertial>
      <mass value="0"/> <!-- static -->
      <inertia ixx="0" iyy="0" izz="0" ixy="0" ixz="0" iyz="0"/>
    </inertial>
  </link>


  <joint name="joint_block_11_17" type="fixed">
    <parent link="maze_base"/>
    <child link="block_11_17"/>
    <origin xyz="13.5 -5.5 1.0" rpy="0 0 0"/>
  </joint>


  <link name="block_11_18">
    <visual>
      <origin xyz="0 0 0"/>
      <geometry>
        <box size="1.0 1.0 2.0"/>
      </geometry>
      <material name="wall">
        <color rgba="0.95 0.95 0.98 1.0"/>
      </material>
    </visual>
    <collision>
      <origin xyz="0 0 0"/>
      <geometry>
        <box size="1.0 1.0 2.0"/>
      </geometry>
    </collision>
    <inertial>
      <mass value="0"/> <!-- static -->
      <inertia ixx="0" iyy="0" izz="0" ixy="0" ixz="0" iyz="0"/>
    </inertial>
  </link>


  <joint name="joint_block_11_18" type="fixed">
    <parent link="maze_base"/>
    <child link="block_11_18"/>
    <origin xyz="14.5 -5.5 1.0" rpy="0 0 0"/>
  </joint>


  <link name="block_11_19">
    <visual>
      <origin xyz="0 0 0"/>
      <geometry>
        <box size="1.0 1.0 2.0"/>
      </geometry>
      <material name="wall">
        <color rgba="0.95 0.95 0.98 1.0"/>
      </material>
    </visual>
    <collision>
      <origin xyz="0 0 0"/>
      <geometry>
        <box size="1.0 1.0 2.0"/>
      </geometry>
    </collision>
    <inertial>
      <mass value="0"/> <!-- static -->
      <inertia ixx="0" iyy="0" izz="0" ixy="0" ixz="0" iyz="0"/>
    </inertial>
  </link>


  <joint name="joint_block_11_19" type="fixed">
    <parent link="maze_base"/>
    <child link="block_11_19"/>
    <origin xyz="15.5 -5.5 1.0" rpy="0 0 0"/>
  </joint>


  <link name="block_11_20">
    <visual>
      <origin xyz="0 0 0"/>
      <geometry>
        <box size="1.0 1.0 2.0"/>
      </geometry>
      <material name="wall">
        <color rgba="0.95 0.95 0.98 1.0"/>
      </material>
    </visual>
    <collision>
      <origin xyz="0 0 0"/>
      <geometry>
        <box size="1.0 1.0 2.0"/>
      </geometry>
    </collision>
    <inertial>
      <mass value="0"/> <!-- static -->
      <inertia ixx="0" iyy="0" izz="0" ixy="0" ixz="0" iyz="0"/>
    </inertial>
  </link>


  <joint name="joint_block_11_20" type="fixed">
    <parent link="maze_base"/>
    <child link="block_11_20"/>
    <origin xyz="16.5 -5.5 1.0" rpy="0 0 0"/>
  </joint>


  <link name="block_11_21">
    <visual>
      <origin xyz="0 0 0"/>
      <geometry>
        <box size="1.0 1.0 2.0"/>
      </geometry>
      <material name="wall">
        <color rgba="0.95 0.95 0.98 1.0"/>
      </material>
    </visual>
    <collision>
      <origin xyz="0 0 0"/>
      <geometry>
        <box size="1.0 1.0 2.0"/>
      </geometry>
    </collision>
    <inertial>
      <mass value="0"/> <!-- static -->
      <inertia ixx="0" iyy="0" izz="0" ixy="0" ixz="0" iyz="0"/>
    </inertial>
  </link>


  <joint name="joint_block_11_21" type="fixed">
    <parent link="maze_base"/>
    <child link="block_11_21"/>
    <origin xyz="17.5 -5.5 1.0" rpy="0 0 0"/>
  </joint>

</robot>
